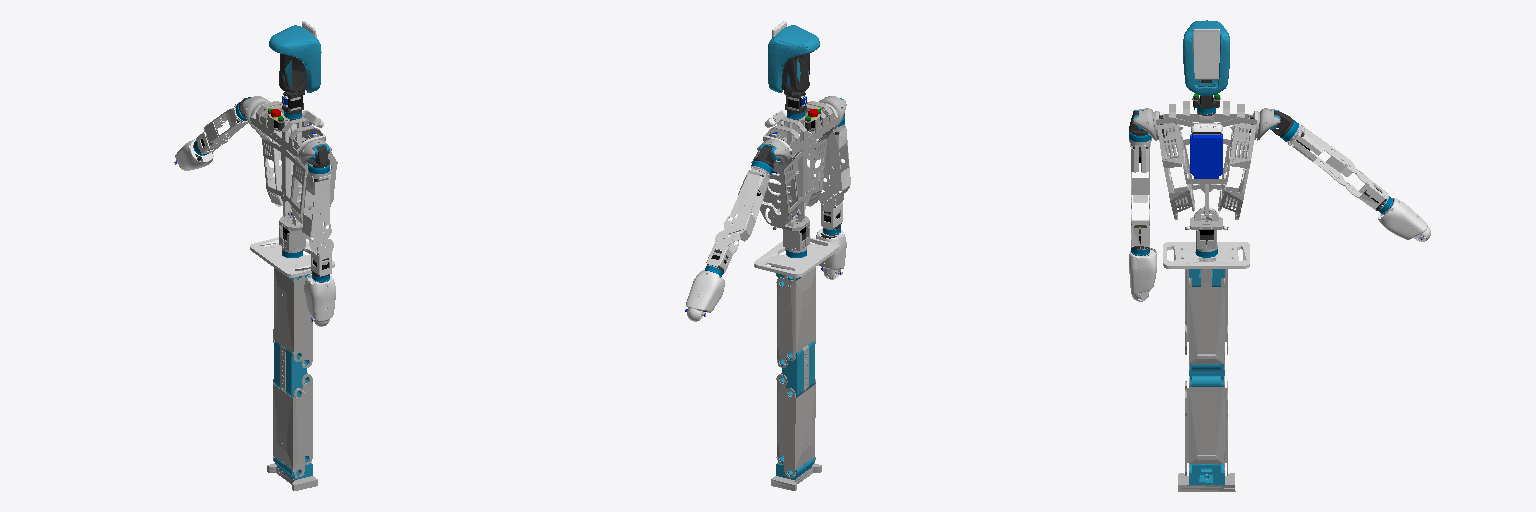
--- What the picture shows (computed from the rendered views, not written in the file) ---
Views: 3 orthographic renders of the robot side by side, from view 1: azimuth 30°, elevation 25°; view 2: azimuth 150°, elevation 25°; view 3: azimuth 270°, elevation 25°.
Robot: SEED-Noid-Mover-typeG — 55 links, 54 joints (32 revolute, 2 continuous, 20 fixed); root link base_link; default pose: joints at zero except 1 at the middle of their limits (l_shoulder_r_joint = 0.8703).
Links seen in each view (by area): view 1: body_link, head_link, leg_shank_link, leg_thigh_link, r_upperarm_link, waist_link, leg_knee_link, r_forearm_link, hip_sphere_link, r_elbow_link, l_upperarm_link, l_forearm_link (+3 smaller); view 2: body_link, head_link, leg_shank_link, leg_thigh_link, l_upperarm_link, waist_link, r_upperarm_link, l_forearm_link, leg_knee_link, hip_sphere_link, l_elbow_link, r_elbow_link (+5 smaller); view 3: body_link, head_link, leg_shank_link_dummy, leg_thigh_link_dummy, waist_link, l_upperarm_link, l_forearm_link, r_upperarm_link, hip_sphere_link, lifter_base_link, r_forearm_link, l_elbow_link (+5 smaller).
Boxes of the visible links, <box> form: body_link: <box>250,101,337,223</box>; head_link: <box>269,21,321,92</box>; leg_shank_link: <box>273,379,308,477</box>; leg_thigh_link: <box>273,268,308,361</box>; r_upperarm_link: <box>302,164,331,241</box>; waist_link: <box>250,237,334,277</box>; leg_knee_link: <box>274,341,309,397</box>; r_forearm_link: <box>304,274,335,326</box>; hip_sphere_link: <box>279,211,305,257</box>; r_elbow_link: <box>309,239,333,281</box>; l_upperarm_link: <box>204,102,248,142</box>; l_forearm_link: <box>175,139,213,170</box>; body_link: <box>751,101,838,227</box>; head_link: <box>768,21,819,92</box>; leg_shank_link: <box>780,379,815,477</box>; leg_thigh_link: <box>780,267,815,361</box>; l_upperarm_link: <box>724,161,772,241</box>; waist_link: <box>754,237,838,277</box>; r_upperarm_link: <box>823,116,850,194</box>; l_forearm_link: <box>686,270,724,321</box>; leg_knee_link: <box>780,341,814,397</box>; hip_sphere_link: <box>773,211,809,257</box>; l_elbow_link: <box>705,230,738,276</box>; r_elbow_link: <box>819,192,843,234</box>; body_link: <box>1153,94,1259,220</box>; head_link: <box>1183,20,1229,95</box>; leg_shank_link_dummy: <box>1189,376,1224,469</box>; leg_thigh_link_dummy: <box>1189,278,1224,369</box>; waist_link: <box>1163,242,1249,268</box>; l_upperarm_link: <box>1280,120,1356,185</box>; l_forearm_link: <box>1378,198,1430,241</box>; r_upperarm_link: <box>1129,132,1151,208</box>; hip_sphere_link: <box>1185,207,1228,257</box>; lifter_base_link: <box>1178,464,1234,487</box>; r_forearm_link: <box>1129,248,1156,301</box>; l_elbow_link: <box>1345,169,1392,213</box>.
Size in the robot's own frame: 0.1679 by 0.8385 by 1.42 metres.
Meshes: 34 distinct files referenced, 27 mesh visuals loaded (26 Collada DAE); not drawn: 16 (reference not matched to a file when rendering).

URDF robot description (SEED-Noid-Mover-typeG):
<?xml version="1.0" ?>
<!-- =================================================================================== -->
<!-- |    This document was autogenerated by xacro from noid.urdf.xacro                | -->
<!-- |    EDITING THIS FILE BY HAND IS NOT RECOMMENDED                                 | -->
<!-- =================================================================================== -->
<robot name="SEED-Noid-Mover-typeG" xmlns:xacro="http://ros.org/wiki/xacro">
  <!-- ============================   typeF_upper   ============================ -->
  <link name="waist_link">
    <visual>
      <origin rpy="0 0 0" xyz="0 0 0"/>
      <geometry>
        <mesh filename="package://seed_r7_description/meshes/typeG_upperbody/waist_link.dae" scale="1 1 1"/>
      </geometry>
    </visual>
    <collision>
      <origin rpy="0 -0 0" xyz="0 0 0"/>
      <geometry>
        <mesh filename="package://seed_r7_description/meshes/typeG_upperbody/waist_link.dae" scale="1 1 1"/>
      </geometry>
    </collision>
    <inertial>
      <mass value="1.257"/>
      <origin rpy="0 0 0" xyz="0 0 0.0"/>
      <inertia ixx="0.034" ixy="0" ixz="0" iyy="0.034" iyz="0" izz="0.018"/>
    </inertial>
  </link>
  <gazebo reference="waist_link">
    <mu1>0.9</mu1>
    <mu2>0.9</mu2>
  </gazebo>
  <link name="hip_sphere_link">
    <visual>
      <origin rpy="0 0 0" xyz="0 0 0"/>
      <geometry>
        <mesh filename="package://seed_r7_description/meshes/typeG_upperbody/hip_sphere_link.dae" scale="1 1 1"/>
      </geometry>
    </visual>
    <collision>
      <origin rpy="0 0 0" xyz="0 0 0"/>
      <geometry>
        <mesh filename="package://seed_r7_description/meshes/typeG_upperbody/hip_sphere_link.dae" scale="1 1 1"/>
      </geometry>
    </collision>
    <inertial>
      <mass value="1.257"/>
      <origin rpy="0 -0 0" xyz="0 0 0.042"/>
      <!-- inertia ixx="0.034" ixy="0" ixz="0" iyy="0.034" iyz="0" izz="0.018"/ -->
      <!-- just fixed for gazebo / reduce inertia-->
      <inertia ixx="0.01" ixy="0" ixz="0" iyy="0.01" iyz="0" izz="0.007"/>
    </inertial>
  </link>
  <gazebo reference="hip_sphere_link">
    <mu1>0.9</mu1>
    <mu2>0.9</mu2>
  </gazebo>
  <link name="hip_center">
    <visual>
      <origin rpy="0 0 0" xyz="0 0 0"/>
      <geometry>
        <mesh filename="package://seed_r7_description/meshes/typeG_upperbody/hip_center_link.dae" scale="1 1 1"/>
      </geometry>
    </visual>
    <collision>
      <origin rpy="0 0 0" xyz="0 0 0"/>
      <geometry>
        <mesh filename="package://seed_r7_description/meshes/typeG_upperbody/hip_center_link.dae" scale="1 1 1"/>
      </geometry>
    </collision>
    <inertial>
      <mass value="0.1"/>
      <origin rpy="0 0 0" xyz="0 0 0"/>
      <inertia ixx="0.003" ixy="0" ixz="0" iyy="0.003" iyz="0" izz="0.003"/>
    </inertial>
  </link>
  <gazebo reference="hip_center">
    <mu1>0.9</mu1>
    <mu2>0.9</mu2>
  </gazebo>
  <link name="body_link">
    <visual>
      <origin rpy="0 0 0" xyz="0 0 0"/>
      <geometry>
        <mesh filename="package://seed_r7_description/meshes/typeG_upperbody/body_link.dae" scale="1 1 1"/>
      </geometry>
    </visual>
    <collision>
      <origin rpy="0 0 0" xyz="0 0 0"/>
      <geometry>
        <mesh filename="package://seed_r7_description/meshes/typeG_upperbody/body_link.dae" scale="1 1 1"/>
      </geometry>
    </collision>
    <inertial>
      <mass value="10.551"/>
      <origin rpy="0 -0 0" xyz="0 0 0.22"/>
      <inertia ixx="0.13" ixy="0" ixz="0" iyy="0.12" iyz="0" izz="0.114"/>
    </inertial>
  </link>
  <gazebo reference="body_link">
    <mu1>0.9</mu1>
    <mu2>0.9</mu2>
  </gazebo>
  <link name="l_shoulder_link">
    <visual>
      <origin rpy="0 0 0" xyz="0 0 0"/>
      <geometry>
        <mesh filename="package://seed_r7_description/meshes/typeG_upperbody/l_shoulder_link.dae" scale="1 1 1"/>
      </geometry>
    </visual>
    <collision>
      <origin rpy="0 0 0" xyz="0 0 0"/>
      <geometry>
        <mesh filename="package://seed_r7_description/meshes/typeG_upperbody/l_shoulder_link.dae" scale="1 1 1"/>
      </geometry>
    </collision>
    <inertial>
      <mass value="0.242"/>
      <!--origin xyz="0 0.02 0" rpy="0 -0 0"/>
      <inertia ixx="0.000228" ixy="0" ixz="0" iyy="0.000148" iyz="0" izz="0.000263"/-->
      <!-- just fixed for gazebo / increase inertia-->
      <origin rpy="0 -0 0" xyz="0 0.02 0.015"/>
      <inertia ixx="0.00133" ixy="0" ixz="0" iyy="0.001" iyz="0" izz="0.00133"/>
    </inertial>
  </link>
  <gazebo reference="l_shoulder_link">
    <mu1>0.9</mu1>
    <mu2>0.9</mu2>
  </gazebo>
  <link name="l_shoulder_center">
    <visual>
      <origin rpy="0 -0 0" xyz="0 0 0"/>
      <geometry>
        <mesh filename="package://seed_r7_description/meshes/typeG_upperbody/l_shoulder_center_link.dae" scale="1 1 1"/>
      </geometry>
    </visual>
    <collision>
      <origin rpy="0 -0 0" xyz="0 0 0"/>
      <geometry>
        <mesh filename="package://seed_r7_description/meshes/typeG_upperbody/l_shoulder_center_link.dae" scale="1 1 1"/>
      </geometry>
    </collision>
    <inertial>
      <mass value="0.744"/>
      <!--origin xyz="0 0.01 0" rpy="0 -0 0"/-->
      <origin rpy="0 -0 0" xyz="0 -0.01 -0.06"/>
      <inertia ixx="0.000841" ixy="0" ixz="0" iyy="0.000835" iyz="0" izz="0.000304"/>
    </inertial>
  </link>
  <gazebo reference="l_shoulder_center">
    <mu1>0.9</mu1>
    <mu2>0.9</mu2>
  </gazebo>
  <link name="l_upperarm_link">
    <visual>
      <origin rpy="0 -0 0" xyz="0 0 0"/>
      <geometry>
        <mesh filename="package://seed_r7_description/meshes/typeG_upperbody/l_upperarm_link.dae" scale="1 1 1"/>
      </geometry>
    </visual>
    <collision>
      <origin rpy="0 -0 0" xyz="0 0 0"/>
      <geometry>
        <mesh filename="package://seed_r7_description/meshes/typeG_upperbody/l_upperarm_link.dae" scale="1 1 1"/>
      </geometry>
    </collision>
    <inertial>
      <mass value="0.574"/>
      <!--origin xyz="0.005 0 -0.0654" rpy="0 -0 0"/>
      <inertia ixx="0.00114" ixy="0" ixz="0" iyy="0.00117" iyz="0" izz="0.000269"/-->
      <!-- fix for gazebo -->
      <origin rpy="0 -0 0" xyz="0.005 0 -0.0654"/>
      <inertia ixx="0.00214" ixy="0" ixz="0" iyy="0.00217" iyz="0" izz="0.003"/>
    </inertial>
  </link>
  <gazebo reference="l_upperarm_link">
    <mu1>0.9</mu1>
    <mu2>0.9</mu2>
  </gazebo>
  <link name="l_elbow_link">
    <visual>
      <origin rpy="0 -0 0" xyz="0 0 0"/>
      <geometry>
        <mesh filename="package://seed_r7_description/meshes/typeG_upperbody/l_elbow_link.dae" scale="1 1 1"/>
      </geometry>
    </visual>
    <collision>
      <origin rpy="0 -0 0" xyz="0 0 0"/>
      <geometry>
        <mesh filename="package://seed_r7_description/meshes/typeG_upperbody/l_elbow_link.dae" scale="1 1 1"/>
      </geometry>
    </collision>
    <inertial>
      <mass value="0.711"/>
      <!--origin xyz="0.0047 0 -0.0546" rpy="0 -0 0"/>
      <inertia ixx="0.00178" ixy="0" ixz="0" iyy="0.00179" iyz="0" izz="0.000273"/-->
      <!-- fix for gazebo -->
      <origin rpy="0 -0 0" xyz="-0.03 0 -0.0546"/>
      <inertia ixx="0.00178" ixy="0" ixz="0" iyy="0.00179" iyz="0" izz="0.0035"/>
    </inertial>
  </link>
  <gazebo reference="l_elbow_link">
    <mu1>0.9</mu1>
    <mu2>0.9</mu2>
  </gazebo>
  <link name="l_forearm_link">
    <visual>
      <origin rpy="0 0 0" xyz="0 0 0"/>
      <geometry>
        <mesh filename="package://seed_r7_description/meshes/typeG_upperbody/l_forearm_link.dae" scale="1 1 1"/>
      </geometry>
    </visual>
    <collision>
      <origin rpy="0 0 0" xyz="0 0 0"/>
      <geometry>
        <mesh filename="package://seed_r7_description/meshes/typeG_upperbody/l_forearm_link.dae" scale="1 1 1"/>
      </geometry>
    </collision>
    <inertial>
      <mass value="0.132"/>
      <origin rpy="0 -0 0" xyz="0.006 0 -0.0738"/>
      <!--inertia ixx="0.00276" ixy="0" ixz="0" iyy="0.00286" iyz="0" izz="0.004"/-->
      <inertia ixx="0.0007" ixy="0" ixz="0" iyy="0.0007" iyz="0" izz="0.0004"/>
    </inertial>
  </link>
  <gazebo reference="l_forearm_link">
    <mu1>0.9</mu1>
    <mu2>0.9</mu2>
  </gazebo>
  <link name="l_wrist_center">
    <visual>
      <origin rpy="0 0 0" xyz="0 0 0"/>
      <geometry>
        <mesh filename="package://seed_r7_description/meshes/typeG_upperbody/l_wrist_center_link.dae" scale="1 1 1"/>
      </geometry>
    </visual>
    <collision>
      <origin rpy="0 0 0" xyz="0 0 0"/>
      <geometry>
        <mesh filename="package://seed_r7_description/meshes/typeG_upperbody/l_wrist_center_link.dae" scale="1 1 1"/>
      </geometry>
    </collision>
    <inertial>
      <mass value="0.05"/>
      <origin rpy="0 -0 0" xyz="0 0 0"/>
      <inertia ixx="0.0001" ixy="0" ixz="0" iyy="0.0001" iyz="0" izz="0.0001"/>
    </inertial>
  </link>
  <gazebo reference="l_wrist_center">
    <mu1>0.9</mu1>
    <mu2>0.9</mu2>
  </gazebo>
  <link name="neck_link">
    <visual>
      <origin rpy="0 -0 0" xyz="0 0 0"/>
      <geometry>
        <mesh filename="package://seed_r7_description/meshes/typeG_upperbody/neck_link.dae" scale="1 1 1"/>
      </geometry>
    </visual>
    <collision>
      <origin rpy="0 -0 0" xyz="0 0 0"/>
      <geometry>
        <mesh filename="package://seed_r7_description/meshes/typeG_upperbody/neck_link.dae" scale="1 1 1"/>
      </geometry>
    </collision>
    <inertial>
      <mass value="0.341"/>
      <origin rpy="0 -0 0" xyz="0 0 0.0595"/>
      <!--inertia ixx="1.64186e-35" ixy="0" ixz="0" iyy="1.64186e-35" iyz="0" izz="0"/-->
      <inertia ixx="0.001" ixy="0" ixz="0" iyy="0.001" iyz="0" izz="0.002"/>
    </inertial>
  </link>
  <gazebo reference="neck_link">
    <mu1>0.9</mu1>
    <mu2>0.9</mu2>
  </gazebo>
  <link name="head_base_link">
    <visual>
      <origin rpy="0 -0 0" xyz="0 0 0"/>
      <geometry>
        <mesh filename="package://seed_r7_description/meshes/typeG_upperbody/head_base_link.dae" scale="1 1 1"/>
      </geometry>
    </visual>
    <collision>
      <origin rpy="0 -0 0" xyz="0 0 0"/>
      <geometry>
        <mesh filename="package://seed_r7_description/meshes/typeG_upperbody/head_base_link.dae" scale="1 1 1"/>
      </geometry>
    </collision>
    <inertial>
      <mass value="0.1"/>
      <origin rpy="0 -0 0" xyz="0 0 0"/>
      <inertia ixx="0.0005" ixy="0" ixz="0" iyy="0.0005" iyz="0" izz="0.0005"/>
    </inertial>
  </link>
  <gazebo reference="head_base_link">
    <mu1>0.9</mu1>
    <mu2>0.9</mu2>
  </gazebo>
  <link name="head_link">
    <visual>
      <origin rpy="0 -0 0" xyz="0 0 0"/>
      <geometry>
        <mesh filename="package://seed_r7_description/meshes/typeG_upperbody/head_link.dae" scale="1 1 1"/>
      </geometry>
    </visual>
    <collision>
      <origin rpy="0 -0 0" xyz="0 0 0"/>
      <geometry>
        <mesh filename="package://seed_r7_description/meshes/typeG_upperbody/head_link.dae" scale="1 1 1"/>
      </geometry>
    </collision>
    <inertial>
      <mass value="0.974"/>
      <origin rpy="0 -0 0" xyz="0.01 0 0.070"/>
      <inertia ixx="0.005" ixy="0" ixz="0" iyy="0.005" iyz="0" izz="0.005"/>
    </inertial>
  </link>
  <gazebo reference="head_link">
    <mu1>0.9</mu1>
    <mu2>0.9</mu2>
  </gazebo>
  <link name="r_shoulder_link">
    <visual>
      <origin rpy="0 0 0" xyz="0 0 0"/>
      <geometry>
        <mesh filename="package://seed_r7_description/meshes/typeG_upperbody/r_shoulder_link.dae" scale="1 1 1"/>
      </geometry>
    </visual>
    <collision>
      <origin rpy="0 0 0" xyz="0 0 0"/>
      <geometry>
        <mesh filename="package://seed_r7_description/meshes/typeG_upperbody/r_shoulder_link.dae" scale="1 1 1"/>
      </geometry>
    </collision>
    <inertial>
      <mass value="0.242"/>
      <!--origin xyz="0 -0.02 0" rpy="0 -0 0"/>
      <inertia ixx="0.000228" ixy="0" ixz="0" iyy="0.000148" iyz="0" izz="0.000263"/-->
      <origin rpy="0 -0 0" xyz="0 -0.02 0.015"/>
      <inertia ixx="0.00133" ixy="0" ixz="0" iyy="0.001" iyz="0" izz="0.00133"/>
    </inertial>
  </link>
  <gazebo reference="r_shoulder_link">
    <mu1>0.9</mu1>
    <mu2>0.9</mu2>
  </gazebo>
  <link name="r_shoulder_center">
    <visual>
      <origin rpy="0 -0 0" xyz="0 0 0"/>
      <geometry>
        <mesh filename="package://seed_r7_description/meshes/typeG_upperbody/r_shoulder_center_link.dae" scale="1 1 1"/>
      </geometry>
    </visual>
    <collision>
      <origin rpy="0 -0 0" xyz="0 0 0"/>
      <geometry>
        <mesh filename="package://seed_r7_description/meshes/typeG_upperbody/r_shoulder_center_link.dae" scale="1 1 1"/>
      </geometry>
    </collision>
    <inertial>
      <mass value="0.744"/>
      <!--origin xyz="0 -0.01 0" rpy="0 -0 0"/-->
      <origin rpy="0 -0 0" xyz="0 0.01 -0.06"/>
      <inertia ixx="0.000841" ixy="0" ixz="0" iyy="0.000835" iyz="0" izz="0.000305"/>
    </inertial>
  </link>
  <gazebo reference="r_shoulder_center">
    <mu1>0.9</mu1>
    <mu2>0.9</mu2>
  </gazebo>
  <link name="r_upperarm_link">
    <visual>
      <origin rpy="0 -0 0" xyz="0 0 0"/>
      <geometry>
        <mesh filename="package://seed_r7_description/meshes/typeG_upperbody/r_upperarm_link.dae" scale="1 1 1"/>
      </geometry>
    </visual>
    <collision>
      <origin rpy="0 -0 0" xyz="0 0 0"/>
      <geometry>
        <mesh filename="package://seed_r7_description/meshes/typeG_upperbody/r_upperarm_link.dae" scale="1 1 1"/>
      </geometry>
    </collision>
    <inertial>
      <mass value="0.574"/>
      <!--origin xyz="0.005 0 -0.0654" rpy="0 -0 0"/>
      <inertia ixx="0.00114" ixy="0" ixz="0" iyy="0.00117" iyz="0" izz="0.000269"/-->
      <!-- fix for gazebo -->
      <origin rpy="0 -0 0" xyz="0.005 0 -0.0654"/>
      <inertia ixx="0.00214" ixy="0" ixz="0" iyy="0.00217" iyz="0" izz="0.003"/>
    </inertial>
  </link>
  <gazebo reference="r_upperarm_link">
    <mu1>0.9</mu1>
    <mu2>0.9</mu2>
  </gazebo>
  <link name="r_elbow_link">
    <visual>
      <origin rpy="0 -0 0" xyz="0 0 0"/>
      <geometry>
        <mesh filename="package://seed_r7_description/meshes/typeG_upperbody/r_elbow_link.dae" scale="1 1 1"/>
      </geometry>
    </visual>
    <collision>
      <origin rpy="0 -0 0" xyz="0 0 0"/>
      <geometry>
        <mesh filename="package://seed_r7_description/meshes/typeG_upperbody/r_elbow_link.dae" scale="1 1 1"/>
      </geometry>
    </collision>
    <inertial>
      <mass value="0.711"/>
      <!--origin xyz="0.0047 0 -0.0546" rpy="0 -0 0"/>
      <inertia ixx="0.00178" ixy="0" ixz="0" iyy="0.00179" iyz="0" izz="0.000273"/-->
      <!-- fix for gazebo -->
      <origin rpy="0 -0 0" xyz="-0.03 0 -0.0546"/>
      <inertia ixx="0.00178" ixy="0" ixz="0" iyy="0.00179" iyz="0" izz="0.0035"/>
    </inertial>
  </link>
  <gazebo reference="r_elbow_link">
    <mu1>0.9</mu1>
    <mu2>0.9</mu2>
  </gazebo>
  <link name="r_forearm_link">
    <visual>
      <origin rpy="0 0 0" xyz="0 0 0"/>
      <geometry>
        <mesh filename="package://seed_r7_description/meshes/typeG_upperbody/r_forearm_link.dae" scale="1 1 1"/>
      </geometry>
    </visual>
    <collision>
      <origin rpy="0 0 0" xyz="0 0 0"/>
      <geometry>
        <mesh filename="package://seed_r7_description/meshes/typeG_upperbody/r_forearm_link.dae" scale="1 1 1"/>
      </geometry>
    </collision>
    <inertial>
      <mass value="0.132"/>
      <origin rpy="0 -0 0" xyz="0.006 0 -0.0738"/>
      <!--inertia ixx="0.00276" ixy="0" ixz="0" iyy="0.00286" iyz="0" izz="0.004"/-->
      <inertia ixx="0.0007" ixy="0" ixz="0" iyy="0.0007" iyz="0" izz="0.0004"/>
    </inertial>
  </link>
  <gazebo reference="r_forearm_link">
    <mu1>0.9</mu1>
    <mu2>0.9</mu2>
  </gazebo>
  <link name="r_wrist_center">
    <visual>
      <origin rpy="0 0 0" xyz="0 0 0"/>
      <geometry>
        <mesh filename="package://seed_r7_description/meshes/typeG_upperbody/r_wrist_center_link.dae" scale="1 1 1"/>
      </geometry>
    </visual>
    <collision>
      <origin rpy="0 0 0" xyz="0 0 0"/>
      <geometry>
        <mesh filename="package://seed_r7_description/meshes/typeG_upperbody/r_wrist_center_link.dae" scale="1 1 1"/>
      </geometry>
    </collision>
    <inertial>
      <mass value="0.05"/>
      <origin rpy="0 -0 0" xyz="0 0 0"/>
      <inertia ixx="0.0001" ixy="0" ixz="0" iyy="0.0001" iyz="0" izz="0.0001"/>
    </inertial>
  </link>
  <gazebo reference="r_wrist_center">
    <mu1>0.9</mu1>
    <mu2>0.9</mu2>
  </gazebo>
  <joint name="waist_y_joint" type="revolute">
    <parent link="waist_link"/>
    <child link="hip_sphere_link"/>
    <origin rpy="0 -0 0 " xyz="0 0 0.005"/>
    <axis xyz="0 0 1"/>
    <!-- from -120 to 120 degrees-->
    <limit effort="500" lower="-2.09" upper="2.09" velocity="0.6"/>
    <dynamics damping="0.2" friction="0"/>
  </joint>
  <transmission name="waist_y_joint_trans">
    <type>transmission_interface/SimpleTransmission</type>
    <joint name="waist_y_joint">
      <!-- dupricated in kinetic -->
      <!--hardwareInterface>hardware_interface/EffortJointInterface</hardwareInterface-->
      <!--hardwareInterface>EffortJointInterface</hardwareInterface-->
      <hardwareInterface>VelocityJointInterface</hardwareInterface>
    </joint>
    <actuator name="waist_y_joint_motor">
      <!-- dupricated in kinetic -->
      <!--hardwareInterface>hardware_interface/EffortJointInterface</hardwareInterface-->
      <!--hardwareInterface>EffortJointInterface</hardwareInterface-->
      <hardwareInterface>VelocityJointInterface</hardwareInterface>
      <mechanicalReduction>1</mechanicalReduction>
    </actuator>
  </transmission>
  <gazebo reference="waist_y_joint">
    <implicitSpringDamper>0</implicitSpringDamper>
  </gazebo>
  <joint name="waist_p_joint" type="revolute">
    <parent link="hip_sphere_link"/>
    <child link="hip_center"/>
    <origin rpy="0 -0 0 " xyz="0 0 0.132"/>
    <axis xyz="0 1 0"/>
    <!-- from -10 to 46 degrees-->
    <limit effort="2000" lower="-0.17" upper="0.8" velocity="0.5"/>
    <dynamics damping="0.2" friction="0"/>
  </joint>
  <transmission name="waist_p_joint_trans">
    <type>transmission_interface/SimpleTransmission</type>
    <joint name="waist_p_joint">
      <!-- dupricated in kinetic -->
      <!--hardwareInterface>hardware_interface/EffortJointInterface</hardwareInterface-->
      <!--hardwareInterface>EffortJointInterface</hardwareInterface-->
      <hardwareInterface>VelocityJointInterface</hardwareInterface>
    </joint>
    <actuator name="waist_p_joint_motor">
      <!-- dupricated in kinetic -->
      <!--hardwareInterface>hardware_interface/EffortJointInterface</hardwareInterface-->
      <!--hardwareInterface>EffortJointInterface</hardwareInterface-->
      <hardwareInterface>VelocityJointInterface</hardwareInterface>
      <mechanicalReduction>1</mechanicalReduction>
    </actuator>
  </transmission>
  <gazebo reference="waist_p_joint">
    <implicitSpringDamper>0</implicitSpringDamper>
  </gazebo>
  <joint name="waist_r_joint" type="revolute">
    <parent link="hip_center"/>
    <child link="body_link"/>
    <origin rpy="0 -0 0 " xyz="0 0 0"/>
    <axis xyz="1 0 0"/>
    <!-- from -7 to 7 degrees-->
    <limit effort="2000" lower="-0.12" upper="0.12" velocity="0.4"/>
    <dynamics damping="0.2" friction="0"/>
  </joint>
  <transmission name="waist_r_joint_trans">
    <type>transmission_interface/SimpleTransmission</type>
    <joint name="waist_r_joint">
      <!-- dupricated in kinetic -->
      <!--hardwareInterface>hardware_interface/EffortJointInterface</hardwareInterface-->
      <!--hardwareInterface>EffortJointInterface</hardwareInterface-->
      <hardwareInterface>VelocityJointInterface</hardwareInterface>
    </joint>
    <actuator name="waist_r_joint_motor">
      <!-- dupricated in kinetic -->
      <!--hardwareInterface>hardware_interface/EffortJointInterface</hardwareInterface-->
      <!--hardwareInterface>EffortJointInterface</hardwareInterface-->
      <hardwareInterface>VelocityJointInterface</hardwareInterface>
      <mechanicalReduction>1</mechanicalReduction>
    </actuator>
  </transmission>
  <gazebo reference="waist_r_joint">
    <implicitSpringDamper>0</implicitSpringDamper>
  </gazebo>
  <joint name="l_shoulder_p_joint" type="revolute">
    <parent link="body_link"/>
    <child link="l_shoulder_link"/>
    <origin rpy="0 0 0 " xyz="-0.018 0.134147 0.251907"/>
    <axis xyz="0 0.984808 -0.173648"/>
    <!-- from -82 to 18 degrees-->
    <!-- <limit lower="-1.535" upper="0.261" effort="200" velocity="0.4" /> -->
    <limit effort="200" lower="-1.43" upper="0.31" velocity="0.4"/>
     --&gt;
    
    <dynamics damping="0.2" friction="0"/>
  </joint>
  <transmission name="l_shoulder_p_joint_trans">
    <type>transmission_interface/SimpleTransmission</type>
    <joint name="l_shoulder_p_joint">
      <!-- dupricated in kinetic -->
      <!--hardwareInterface>hardware_interface/EffortJointInterface</hardwareInterface-->
      <!--hardwareInterface>EffortJointInterface</hardwareInterface-->
      <hardwareInterface>VelocityJointInterface</hardwareInterface>
    </joint>
    <actuator name="l_shoulder_p_joint_motor">
      <!-- dupricated in kinetic -->
      <!--hardwareInterface>hardware_interface/EffortJointInterface</hardwareInterface-->
      <!--hardwareInterface>EffortJointInterface</hardwareInterface-->
      <hardwareInterface>VelocityJointInterface</hardwareInterface>
      <mechanicalReduction>1</mechanicalReduction>
    </actuator>
  </transmission>
  <gazebo reference="l_shoulder_p_joint">
    <implicitSpringDamper>0</implicitSpringDamper>
  </gazebo>
  <joint name="l_shoulder_r_joint" type="revolute">
    <parent link="l_shoulder_link"/>
    <child link="l_shoulder_center"/>
    <origin rpy="0 0 0 " xyz="0 0.059778 0.028046"/>
    <axis xyz="1 0 0"/>
    <!-- from -10 to 90 degrees-->
    <limit effort="100" lower="0.17" upper="1.5707" velocity="0.6"/>
    <dynamics damping="0.2" friction="0"/>
  </joint>
  <transmission name="l_shoulder_r_joint_trans">
    <type>transmission_interface/SimpleTransmission</type>
    <joint name="l_shoulder_r_joint">
      <!-- dupricated in kinetic -->
      <!--hardwareInterface>hardware_interface/EffortJointInterface</hardwareInterface-->
      <!--hardwareInterface>EffortJointInterface</hardwareInterface-->
      <hardwareInterface>VelocityJointInterface</hardwareInterface>
    </joint>
    <actuator name="l_shoulder_r_joint_motor">
      <!-- dupricated in kinetic -->
      <!--hardwareInterface>hardware_interface/EffortJointInterface</hardwareInterface-->
      <!--hardwareInterface>EffortJointInterface</hardwareInterface-->
      <hardwareInterface>VelocityJointInterface</hardwareInterface>
      <mechanicalReduction>1</mechanicalReduction>
    </actuator>
  </transmission>
  <gazebo reference="l_shoulder_r_joint">
    <implicitSpringDamper>0</implicitSpringDamper>
  </gazebo>
  <joint name="l_shoulder_y_joint" type="revolute">
    <parent link="l_shoulder_center"/>
    <child link="l_upperarm_link"/>
    <origin rpy="0 -0 0 " xyz="0 -0.01 -0.0455"/>
    <axis xyz="0 0 1"/>
    <!-- from -180 to 180 degrees-->
    <limit effort="100" lower="-1.5707" upper="1.5707" velocity="1.2"/>
    <dynamics damping="0.2" friction="0"/>
  </joint>
  <transmission name="l_shoulder_y_joint_trans">
    <type>transmission_interface/SimpleTransmission</type>
    <joint name="l_shoulder_y_joint">
      <!-- dupricated in kinetic -->
      <!--hardwareInterface>hardware_interface/EffortJointInterface</hardwareInterface-->
      <!--hardwareInterface>EffortJointInterface</hardwareInterface-->
      <hardwareInterface>VelocityJointInterface</hardwareInterface>
    </joint>
    <actuator name="l_shoulder_y_joint_motor">
      <!-- dupricated in kinetic -->
      <!--hardwareInterface>hardware_interface/EffortJointInterface</hardwareInterface-->
      <!--hardwareInterface>EffortJointInterface</hardwareInterface-->
      <hardwareInterface>VelocityJointInterface</hardwareInterface>
      <mechanicalReduction>1</mechanicalReduction>
    </actuator>
  </transmission>
  <gazebo reference="l_shoulder_y_joint">
    <implicitSpringDamper>0</implicitSpringDamper>
  </gazebo>
  <joint name="l_elbow_joint" type="revolute">
    <parent link="l_upperarm_link"/>
    <child link="l_elbow_link"/>
    <origin rpy="0 -0 0 " xyz="0.028031 0 -0.229459"/>
    <axis xyz="0 1 0"/>
    <!-- from -180 to 0 degrees-->
    <limit effort="100" lower="-3.14" upper="0" velocity="1.2"/>
    <dynamics damping="0.2" friction="0"/>
  </joint>
  <transmission name="l_elbow_joint_trans">
    <type>transmission_interface/SimpleTransmission</type>
    <joint name="l_elbow_joint">
      <!-- dupricated in kinetic -->
      <!--hardwareInterface>hardware_interface/EffortJointInterface</hardwareInterface-->
      <!--hardwareInterface>EffortJointInterface</hardwareInterface-->
      <hardwareInterface>VelocityJointInterface</hardwareInterface>
    </joint>
    <actuator name="l_elbow_joint_motor">
      <!-- dupricated in kinetic -->
      <!--hardwareInterface>hardware_interface/EffortJointInterface</hardwareInterface-->
      <!--hardwareInterface>EffortJointInterface</hardwareInterface-->
      <hardwareInterface>VelocityJointInterface</hardwareInterface>
      <mechanicalReduction>1</mechanicalReduction>
    </actuator>
  </transmission>
  <gazebo reference="l_elbow_joint">
    <implicitSpringDamper>0</implicitSpringDamper>
  </gazebo>
  <joint name="l_wrist_y_joint" type="revolute">
    <parent link="l_elbow_link"/>
    <child link="l_forearm_link"/>
    <origin rpy="0 -0 0 " xyz="-0.020959 0 -0.137531"/>
    <axis xyz="0 0 1"/>
    <!-- from -180 to 180 degrees-->
    <limit effort="100" lower="-1.5707" upper="1.5707" velocity="1.3"/>
    <dynamics damping="0.2" friction="0"/>
  </joint>
  <transmission name="l_wrist_y_joint_trans">
    <type>transmission_interface/SimpleTransmission</type>
    <joint name="l_wrist_y_joint">
      <!-- dupricated in kinetic -->
      <!--hardwareInterface>hardware_interface/EffortJointInterface</hardwareInterface-->
      <!--hardwareInterface>EffortJointInterface</hardwareInterface-->
      <hardwareInterface>VelocityJointInterface</hardwareInterface>
    </joint>
    <actuator name="l_wrist_y_joint_motor">
      <!-- dupricated in kinetic -->
      <!--hardwareInterface>hardware_interface/EffortJointInterface</hardwareInterface-->
      <!--hardwareInterface>EffortJointInterface</hardwareInterface-->
      <hardwareInterface>VelocityJointInterface</hardwareInterface>
      <mechanicalReduction>1</mechanicalReduction>
    </actuator>
  </transmission>
  <gazebo reference="l_wrist_y_joint">
    <implicitSpringDamper>0</implicitSpringDamper>
  </gazebo>
  <joint name="l_wrist_p_joint" type="revolute">
    <parent link="l_forearm_link"/>
    <child link="l_wrist_center"/>
    <origin rpy="0 -0 0 " xyz="0 0 -0.124"/>
    <axis xyz="0 1 0"/>
    <!-- from -8 to 8 degrees-->
    <limit effort="100" lower="-0.14" upper="0.14" velocity="0.9"/>
    <dynamics damping="0.2" friction="0"/>
  </joint>
  <transmission name="l_wrist_p_joint_trans">
    <type>transmission_interface/SimpleTransmission</type>
    <joint name="l_wrist_p_joint">
      <!-- dupricated in kinetic -->
      <!--hardwareInterface>hardware_interface/EffortJointInterface</hardwareInterface-->
      <!--hardwareInterface>EffortJointInterface</hardwareInterface-->
      <hardwareInterface>VelocityJointInterface</hardwareInterface>
    </joint>
    <actuator name="l_wrist_p_joint_motor">
      <!-- dupricated in kinetic -->
      <!--hardwareInterface>hardware_interface/EffortJointInterface</hardwareInterface-->
      <!--hardwareInterface>EffortJointInterface</hardwareInterface-->
      <hardwareInterface>VelocityJointInterface</hardwareInterface>
      <mechanicalReduction>1</mechanicalReduction>
    </actuator>
  </transmission>
  <gazebo reference="l_wrist_p_joint">
    <implicitSpringDamper>0</implicitSpringDamper>
  </gazebo>
  <joint name="l_wrist_r_joint" type="revolute">
    <parent link="l_wrist_center"/>
    <child link="l_hand_link"/>
    <origin rpy="0 0 0 " xyz="0 0 0"/>
    <axis xyz="1 0 0"/>
    <!-- from -90 to 20 degrees-->
    <limit effort="100" lower="-1.57" upper="0.35" velocity="2.1"/>
    <dynamics damping="0.2" friction="0"/>
  </joint>
  <transmission name="l_wrist_r_joint_trans">
    <type>transmission_interface/SimpleTransmission</type>
    <joint name="l_wrist_r_joint">
      <!-- dupricated in kinetic -->
      <!--hardwareInterface>hardware_interface/EffortJointInterface</hardwareInterface-->
      <!--hardwareInterface>EffortJointInterface</hardwareInterface-->
      <hardwareInterface>VelocityJointInterface</hardwareInterface>
    </joint>
    <actuator name="l_wrist_r_joint_motor">
      <!-- dupricated in kinetic -->
      <!--hardwareInterface>hardware_interface/EffortJointInterface</hardwareInterface-->
      <!--hardwareInterface>EffortJointInterface</hardwareInterface-->
      <hardwareInterface>VelocityJointInterface</hardwareInterface>
      <mechanicalReduction>1</mechanicalReduction>
    </actuator>
  </transmission>
  <gazebo reference="l_wrist_r_joint">
    <implicitSpringDamper>0</implicitSpringDamper>
  </gazebo>
  <joint name="neck_y_joint" type="revolute">
    <parent link="body_link"/>
    <child link="neck_link"/>
    <origin rpy="0 -0 0 " xyz="0.002 0 0.302"/>
    <axis xyz="0 0 1"/>
    <!-- from -120 to 120 degrees-->
    <limit effort="100" lower="-2.09" upper="2.09" velocity="1.6"/>
    <dynamics damping="0.2" friction="0"/>
  </joint>
  <transmission name="neck_y_joint_trans">
    <type>transmission_interface/SimpleTransmission</type>
    <joint name="neck_y_joint">
      <!-- dupricated in kinetic -->
      <!--hardwareInterface>hardware_interface/EffortJointInterface</hardwareInterface-->
      <!--hardwareInterface>EffortJointInterface</hardwareInterface-->
      <hardwareInterface>VelocityJointInterface</hardwareInterface>
    </joint>
    <actuator name="neck_y_joint_motor">
      <!-- dupricated in kinetic -->
      <!--hardwareInterface>hardware_interface/EffortJointInterface</hardwareInterface-->
      <!--hardwareInterface>EffortJointInterface</hardwareInterface-->
      <hardwareInterface>VelocityJointInterface</hardwareInterface>
      <mechanicalReduction>1</mechanicalReduction>
    </actuator>
  </transmission>
  <gazebo reference="neck_y_joint">
    <implicitSpringDamper>0</implicitSpringDamper>
  </gazebo>
  <joint name="neck_p_joint" type="revolute">
    <parent link="neck_link"/>
    <child link="head_base_link"/>
    <origin rpy="0 -0 0 " xyz="0.015 0 0.105"/>
    <axis xyz="0 1 0"/>
    <!-- from -50 to 40 degrees-->
    <limit effort="100" lower="-0.87" upper="0.7" velocity="2.1"/>
    <dynamics damping="0.2" friction="0"/>
  </joint>
  <transmission name="neck_p_joint_trans">
    <type>transmission_interface/SimpleTransmission</type>
    <joint name="neck_p_joint">
      <!-- dupricated in kinetic -->
      <!--hardwareInterface>hardware_interface/EffortJointInterface</hardwareInterface-->
      <!--hardwareInterface>EffortJointInterface</hardwareInterface-->
      <hardwareInterface>VelocityJointInterface</hardwareInterface>
    </joint>
    <actuator name="neck_p_joint_motor">
      <!-- dupricated in kinetic -->
      <!--hardwareInterface>hardware_interface/EffortJointInterface</hardwareInterface-->
      <!--hardwareInterface>EffortJointInterface</hardwareInterface-->
      <hardwareInterface>VelocityJointInterface</hardwareInterface>
      <mechanicalReduction>1</mechanicalReduction>
    </actuator>
  </transmission>
  <gazebo reference="neck_p_joint">
    <implicitSpringDamper>0</implicitSpringDamper>
  </gazebo>
  <joint name="neck_r_joint" type="revolute">
    <parent link="head_base_link"/>
    <child link="head_link"/>
    <origin rpy="0 -0 0 " xyz="0 0 0"/>
    <axis xyz="1 0 0"/>
    <!-- from -20 to 20 degrees-->
    <limit effort="100" lower="-0.35" upper="0.35" velocity="0.9"/>
    <dynamics damping="0.2" friction="0"/>
  </joint>
  <transmission name="neck_r_joint_trans">
    <type>transmission_interface/SimpleTransmission</type>
    <joint name="neck_r_joint">
      <!-- dupricated in kinetic -->
      <!--hardwareInterface>hardware_interface/EffortJointInterface</hardwareInterface-->
      <!--hardwareInterface>EffortJointInterface</hardwareInterface-->
      <hardwareInterface>VelocityJointInterface</hardwareInterface>
    </joint>
    <actuator name="neck_r_joint_motor">
      <!-- dupricated in kinetic -->
      <!--hardwareInterface>hardware_interface/EffortJointInterface</hardwareInterface-->
      <!--hardwareInterface>EffortJointInterface</hardwareInterface-->
      <hardwareInterface>VelocityJointInterface</hardwareInterface>
      <mechanicalReduction>1</mechanicalReduction>
    </actuator>
  </transmission>
  <gazebo reference="neck_r_joint">
    <implicitSpringDamper>0</implicitSpringDamper>
  </gazebo>
  <joint name="r_shoulder_p_joint" type="revolute">
    <parent link="body_link"/>
    <child link="r_shoulder_link"/>
    <origin rpy="0 -0 0 " xyz="-0.018 -0.134147 0.251907"/>
    <axis xyz="0 0.984808 0.173648"/>
    <!-- from -82 to 18 degrees-->
    <limit effort="200" lower="-1.43" upper="0.31" velocity="0.4"/>
     --&gt;
    
    <dynamics damping="0.2" friction="0"/>
  </joint>
  <transmission name="r_shoulder_p_joint_trans">
    <type>transmission_interface/SimpleTransmission</type>
    <joint name="r_shoulder_p_joint">
      <!-- dupricated in kinetic -->
      <!--hardwareInterface>hardware_interface/EffortJointInterface</hardwareInterface-->
      <!--hardwareInterface>EffortJointInterface</hardwareInterface-->
      <hardwareInterface>VelocityJointInterface</hardwareInterface>
    </joint>
    <actuator name="r_shoulder_p_joint_motor">
      <!-- dupricated in kinetic -->
      <!--hardwareInterface>hardware_interface/EffortJointInterface</hardwareInterface-->
      <!--hardwareInterface>EffortJointInterface</hardwareInterface-->
      <hardwareInterface>VelocityJointInterface</hardwareInterface>
      <mechanicalReduction>1</mechanicalReduction>
    </actuator>
  </transmission>
  <gazebo reference="r_shoulder_p_joint">
    <implicitSpringDamper>0</implicitSpringDamper>
  </gazebo>
  <joint name="r_shoulder_r_joint" type="revolute">
    <parent link="r_shoulder_link"/>
    <child link="r_shoulder_center"/>
    <origin rpy="0 -0 0 " xyz="0 -0.059778 0.028046"/>
    <axis xyz="1 0 0"/>
    <!-- from -90 to 10 degrees-->
    <limit effort="100" lower="-1.5707" upper="0.17" velocity="0.6"/>
    <dynamics damping="0.2" friction="0"/>
  </joint>
  <transmission name="r_shoulder_r_joint_trans">
    <type>transmission_interface/SimpleTransmission</type>
    <joint name="r_shoulder_r_joint">
      <!-- dupricated in kinetic -->
      <!--hardwareInterface>hardware_interface/EffortJointInterface</hardwareInterface-->
      <!--hardwareInterface>EffortJointInterface</hardwareInterface-->
      <hardwareInterface>VelocityJointInterface</hardwareInterface>
    </joint>
    <actuator name="r_shoulder_r_joint_motor">
      <!-- dupricated in kinetic -->
      <!--hardwareInterface>hardware_interface/EffortJointInterface</hardwareInterface-->
      <!--hardwareInterface>EffortJointInterface</hardwareInterface-->
      <hardwareInterface>VelocityJointInterface</hardwareInterface>
      <mechanicalReduction>1</mechanicalReduction>
    </actuator>
  </transmission>
  <gazebo reference="r_shoulder_r_joint">
    <implicitSpringDamper>0</implicitSpringDamper>
  </gazebo>
  <joint name="r_shoulder_y_joint" type="revolute">
    <parent link="r_shoulder_center"/>
    <child link="r_upperarm_link"/>
    <origin rpy="0 -0 0 " xyz="0 0.01 -0.0455"/>
    <axis xyz="0 0 1"/>
    <!-- from -180 to 180 degrees-->
    <limit effort="100" lower="-1.5707" upper="1.5707" velocity="1.2"/>
    <dynamics damping="0.2" friction="0"/>
  </joint>
  <transmission name="r_shoulder_y_joint_trans">
    <type>transmission_interface/SimpleTransmission</type>
    <joint name="r_shoulder_y_joint">
      <!-- dupricated in kinetic -->
      <!--hardwareInterface>hardware_interface/EffortJointInterface</hardwareInterface-->
      <!--hardwareInterface>EffortJointInterface</hardwareInterface-->
      <hardwareInterface>VelocityJointInterface</hardwareInterface>
    </joint>
    <actuator name="r_shoulder_y_joint_motor">
      <!-- dupricated in kinetic -->
      <!--hardwareInterface>hardware_interface/EffortJointInterface</hardwareInterface-->
      <!--hardwareInterface>EffortJointInterface</hardwareInterface-->
      <hardwareInterface>VelocityJointInterface</hardwareInterface>
      <mechanicalReduction>1</mechanicalReduction>
    </actuator>
  </transmission>
  <gazebo reference="r_shoulder_y_joint">
    <implicitSpringDamper>0</implicitSpringDamper>
  </gazebo>
  <joint name="r_elbow_joint" type="revolute">
    <parent link="r_upperarm_link"/>
    <child link="r_elbow_link"/>
    <origin rpy="0 -0 0 " xyz="0.028031 0 -0.229459"/>
    <axis xyz="0 1 0"/>
    <!-- from -180 to 0 degrees-->
    <limit effort="100" lower="-3.14" upper="0" velocity="1.2"/>
    <dynamics damping="0.2" friction="0"/>
  </joint>
  <transmission name="r_elbow_joint_trans">
    <type>transmission_interface/SimpleTransmission</type>
    <joint name="r_elbow_joint">
      <!-- dupricated in kinetic -->
      <!--hardwareInterface>hardware_interface/EffortJointInterface</hardwareInterface-->
      <!--hardwareInterface>EffortJointInterface</hardwareInterface-->
      <hardwareInterface>VelocityJointInterface</hardwareInterface>
    </joint>
    <actuator name="r_elbow_joint_motor">
      <!-- dupricated in kinetic -->
      <!--hardwareInterface>hardware_interface/EffortJointInterface</hardwareInterface-->
      <!--hardwareInterface>EffortJointInterface</hardwareInterface-->
      <hardwareInterface>VelocityJointInterface</hardwareInterface>
      <mechanicalReduction>1</mechanicalReduction>
    </actuator>
  </transmission>
  <gazebo reference="r_elbow_joint">
    <implicitSpringDamper>0</implicitSpringDamper>
  </gazebo>
  <joint name="r_wrist_y_joint" type="revolute">
    <parent link="r_elbow_link"/>
    <child link="r_forearm_link"/>
    <origin rpy="0 -0 0 " xyz="-0.020959 0 -0.137531"/>
    <axis xyz="0 0 1"/>
    <!-- from -180 to 180 degrees-->
    <limit effort="100" lower="-1.5707" upper="1.5707" velocity="1.3"/>
    <dynamics damping="0.2" friction="0"/>
  </joint>
  <transmission name="r_wrist_y_joint_trans">
    <type>transmission_interface/SimpleTransmission</type>
    <joint name="r_wrist_y_joint">
      <!-- dupricated in kinetic -->
      <!--hardwareInterface>hardware_interface/EffortJointInterface</hardwareInterface-->
      <!--hardwareInterface>EffortJointInterface</hardwareInterface-->
      <hardwareInterface>VelocityJointInterface</hardwareInterface>
    </joint>
    <actuator name="r_wrist_y_joint_motor">
      <!-- dupricated in kinetic -->
      <!--hardwareInterface>hardware_interface/EffortJointInterface</hardwareInterface-->
      <!--hardwareInterface>EffortJointInterface</hardwareInterface-->
      <hardwareInterface>VelocityJointInterface</hardwareInterface>
      <mechanicalReduction>1</mechanicalReduction>
    </actuator>
  </transmission>
  <gazebo reference="r_wrist_y_joint">
    <implicitSpringDamper>0</implicitSpringDamper>
  </gazebo>
  <joint name="r_wrist_p_joint" type="revolute">
    <parent link="r_forearm_link"/>
    <child link="r_wrist_center"/>
    <origin rpy="0 -0 0 " xyz="0 0 -0.124"/>
    <axis xyz="0 1 0"/>
    <!-- from -8 to 8 degrees-->
    <limit effort="100" lower="-0.14" upper="0.14" velocity="0.9"/>
    <dynamics damping="0.2" friction="0"/>
  </joint>
  <transmission name="r_wrist_p_joint_trans">
    <type>transmission_interface/SimpleTransmission</type>
    <joint name="r_wrist_p_joint">
      <!-- dupricated in kinetic -->
      <!--hardwareInterface>hardware_interface/EffortJointInterface</hardwareInterface-->
      <!--hardwareInterface>EffortJointInterface</hardwareInterface-->
      <hardwareInterface>VelocityJointInterface</hardwareInterface>
    </joint>
    <actuator name="r_wrist_p_joint_motor">
      <!-- dupricated in kinetic -->
      <!--hardwareInterface>hardware_interface/EffortJointInterface</hardwareInterface-->
      <!--hardwareInterface>EffortJointInterface</hardwareInterface-->
      <hardwareInterface>VelocityJointInterface</hardwareInterface>
      <mechanicalReduction>1</mechanicalReduction>
    </actuator>
  </transmission>
  <gazebo reference="r_wrist_p_joint">
    <implicitSpringDamper>0</implicitSpringDamper>
  </gazebo>
  <joint name="r_wrist_r_joint" type="revolute">
    <parent link="r_wrist_center"/>
    <child link="r_hand_link"/>
    <origin rpy="0 -0 0 " xyz="0 0 0"/>
    <axis xyz="1 0 0"/>
    <!-- from -20 to 90 degrees-->
    <limit effort="100" lower="-0.35" upper="1.57" velocity="2.1"/>
    <dynamics damping="0.2" friction="0"/>
  </joint>
  <transmission name="r_wrist_r_joint_trans">
    <type>transmission_interface/SimpleTransmission</type>
    <joint name="r_wrist_r_joint">
      <!-- dupricated in kinetic -->
      <!--hardwareInterface>hardware_interface/EffortJointInterface</hardwareInterface-->
      <!--hardwareInterface>EffortJointInterface</hardwareInterface-->
      <hardwareInterface>VelocityJointInterface</hardwareInterface>
    </joint>
    <actuator name="r_wrist_r_joint_motor">
      <!-- dupricated in kinetic -->
      <!--hardwareInterface>hardware_interface/EffortJointInterface</hardwareInterface-->
      <!--hardwareInterface>EffortJointInterface</hardwareInterface-->
      <hardwareInterface>VelocityJointInterface</hardwareInterface>
      <mechanicalReduction>1</mechanicalReduction>
    </actuator>
  </transmission>
  <gazebo reference="r_wrist_r_joint">
    <implicitSpringDamper>0</implicitSpringDamper>
  </gazebo>
  <!-- ============================   Hand(trx_s)   ============================ -->
  <!-- prefix is "r" or "l" -->
  <!-- reflect=1 is rightside, reflect=-1 is leftside -->
  <link name="r_hand_link">
    <visual>
      <origin rpy="0 -0 0.0" xyz="0 0 0"/>
      <geometry>
        <mesh filename="package://seed_r7_description/meshes/trx_s/RARM_LINK7_mesh.dae" scale="1 1 1"/>
      </geometry>
    </visual>
    <collision>
      <origin rpy="0.7 0 0" xyz="0 0 -0.093"/>
      <geometry>
        <box size="0.036 0.070 0.030"/>
      </geometry>
    </collision>
    <collision>
      <origin rpy="-0.1 0 0" xyz="0 -0.007 -0.055"/>
      <geometry>
        <box size="0.036 0.050 0.070"/>
      </geometry>
    </collision>
    <inertial>
      <mass value="0.183"/>
      <origin rpy="0 -0 0" xyz="0 0 -0.0875"/>
      <inertia ixx="0.000601" ixy="0" ixz="0" iyy="0.00055" iyz="0" izz="0.000102"/>
    </inertial>
  </link>
  <gazebo reference="r_hand_link">
    <mu1>0.9</mu1>
    <mu2>0.9</mu2>
  </gazebo>
  <link name="r_indexbase_link">
    <visual>
      <origin rpy="0 -0 0.0" xyz="0 0.013 0.115"/>
      <geometry>
        <mesh filename="package://seed_r7_description/meshes/trx_s/RARM_INDEX_LINK1_mesh.dae" scale="1 1 1"/>
      </geometry>
    </visual>
    <collision>
      <origin rpy="-0.85 0 0" xyz="0 0.013494 -0.021422"/>
      <geometry>
        <box size="0.041 0.061 0.016"/>
        <!-- 0.85 -->
      </geometry>
    </collision>
    <inertial>
      <mass value="0.1"/>
      <origin rpy="0 0 0" xyz="0 0.014 -0.021"/>
      <inertia ixx="0.001" ixy="0" ixz="0" iyy="0.0001" iyz="0" izz="0.0001"/>
    </inertial>
  </link>
  <gazebo reference="r_indexbase_link">
    <mu1>0.9</mu1>
    <mu2>0.9</mu2>
  </gazebo>
  <link name="r_indexmid_link">
    <visual>
      <origin rpy="0 -0 0.0" xyz="0 -0.015754 0.149615"/>
      <geometry>
        <mesh filename="package://seed_r7_description/meshes/trx_s/RARM_INDEX_LINK2_mesh.dae" scale="1 1 1"/>
      </geometry>
    </visual>
    <collision>
      <origin rpy="-0.3 0 0" xyz="0 0.014 -0.008"/>
      <!-- 0.3 -->
      <geometry>
        <box size="0.034 0.030 0.016"/>
      </geometry>
    </collision>
    <inertial>
      <mass value="0.1"/>
      <origin rpy="0 0 0" xyz="0 0.014 -0.008"/>
      <inertia ixx="0.001" ixy="0" ixz="0" iyy="0.0001" iyz="0" izz="0.0001"/>
    </inertial>
  </link>
  <gazebo reference="r_indexmid_link">
    <mu1>0.9</mu1>
    <mu2>0.9</mu2>
  </gazebo>
  <link name="r_indexend_link">
    <visual>
      <origin rpy="0 -0 0.0" xyz="0 -0.03747 0.162972"/>
      <geometry>
        <mesh filename="package://seed_r7_description/meshes/trx_s/RARM_INDEX_LINK3_mesh.dae" scale="1 1 1"/>
      </geometry>
    </visual>
    <collision>
      <origin rpy="0 0 0" xyz="0 0.013 0.004"/>
      <!-- 0.0 -->
      <geometry>
        <box size="0.040 0.028 0.016"/>
      </geometry>
    </collision>
    <inertial>
      <mass value="0.1"/>
      <origin rpy="0 0 0" xyz="0 0.02 0"/>
      <inertia ixx="0.0001" ixy="0" ixz="0" iyy="0.0001" iyz="0" izz="0.0001"/>
    </inertial>
  </link>
  <gazebo reference="r_indexend_link">
    <mu1>0.9</mu1>
    <mu2>0.9</mu2>
  </gazebo>
  <link name="r_thumb_link">
    <visual>
      <origin rpy="0 -0 0.0" xyz="0 -0.022355 0.079645"/>
      <geometry>
        <mesh filename="package://seed_r7_description/meshes/trx_s/RARM_THUMB_LINK_mesh.dae" scale="1 1 1"/>
      </geometry>
    </visual>
    <collision>
      <origin rpy="0.63 0 0" xyz="0.0 0.019645 -0.010355"/>
      <geometry>
        <box size="0.012 0.008 0.050"/>
      </geometry>
    </collision>
    <collision>
      <origin rpy="0.1 0 0" xyz="0.0 0.035645 -0.050355"/>
      <geometry>
        <box size="0.012 0.008 0.050"/>
      </geometry>
    </collision>
    <inertial>
      <mass value="0.1"/>
      <origin rpy="0 0 0" xyz="0 0.05 -0.06"/>
      <inertia ixx="0.001" ixy="0" ixz="0" iyy="0.0001" iyz="0" izz="0.0001"/>
    </inertial>
  </link>
  <gazebo reference="r_thumb_link">
    <mu1>0.9</mu1>
    <mu2>0.9</mu2>
  </gazebo>
  <joint name="r_indexbase_joint" type="revolute">
    <parent link="r_hand_link"/>
    <child link="r_indexbase_link"/>
    <origin rpy="0 -0 0 " xyz="0 -0.013 -0.115"/>
    <axis xyz="1 0 0"/>
    <limit effort="100" lower="-3.14159" upper="3.14159" velocity="0.5"/>
    <dynamics damping="0.2" friction="0"/>
  </joint>
  <transmission name="r_indexbase_joint_trans">
    <type>transmission_interface/SimpleTransmission</type>
    <joint name="r_indexbase_joint">
      <!-- dupricated in kinetic -->
      <!--hardwareInterface>hardware_interface/EffortJointInterface</hardwareInterface-->
      <!--hardwareInterface>EffortJointInterface</hardwareInterface-->
      <hardwareInterface>VelocityJointInterface</hardwareInterface>
    </joint>
    <actuator name="r_indexbase_joint_motor">
      <!-- dupricated in kinetic -->
      <!--hardwareInterface>hardware_interface/EffortJointInterface</hardwareInterface-->
      <!--hardwareInterface>EffortJointInterface</hardwareInterface-->
      <hardwareInterface>VelocityJointInterface</hardwareInterface>
      <mechanicalReduction>1</mechanicalReduction>
    </actuator>
  </transmission>
  <gazebo reference="r_indexbase_joint">
    <implicitSpringDamper>0</implicitSpringDamper>
  </gazebo>
  <joint name="r_indexmid_joint" type="revolute">
    <parent link="r_indexbase_link"/>
    <child link="r_indexmid_link"/>
    <origin rpy="0 -0 0 " xyz="0 0.028754 -0.034615"/>
    <axis xyz="1 0 0"/>
    <limit effort="100" lower="-3.14159" upper="3.14159" velocity="0.5"/>
    <dynamics damping="0.2" friction="0"/>
  </joint>
  <transmission name="r_indexmid_joint_trans">
    <type>transmission_interface/SimpleTransmission</type>
    <joint name="r_indexmid_joint">
      <!-- dupricated in kinetic -->
      <!--hardwareInterface>hardware_interface/EffortJointInterface</hardwareInterface-->
      <!--hardwareInterface>EffortJointInterface</hardwareInterface-->
      <hardwareInterface>VelocityJointInterface</hardwareInterface>
    </joint>
    <actuator name="r_indexmid_joint_motor">
      <!-- dupricated in kinetic -->
      <!--hardwareInterface>hardware_interface/EffortJointInterface</hardwareInterface-->
      <!--hardwareInterface>EffortJointInterface</hardwareInterface-->
      <hardwareInterface>VelocityJointInterface</hardwareInterface>
      <mechanicalReduction>1</mechanicalReduction>
    </actuator>
  </transmission>
  <gazebo reference="r_indexmid_joint">
    <implicitSpringDamper>0</implicitSpringDamper>
  </gazebo>
  <joint name="r_indexend_joint" type="revolute">
    <parent link="r_indexmid_link"/>
    <child link="r_indexend_link"/>
    <origin rpy="0 -0 0 " xyz="0 0.021716 -0.013357"/>
    <axis xyz="1 0 0"/>
    <limit effort="100" lower="-3.14159" upper="3.14159" velocity="0.5"/>
    <dynamics damping="0.2" friction="0"/>
  </joint>
  <transmission name="r_indexend_joint_trans">
    <type>transmission_interface/SimpleTransmission</type>
    <joint name="r_indexend_joint">
      <!-- dupricated in kinetic -->
      <!--hardwareInterface>hardware_interface/EffortJointInterface</hardwareInterface-->
      <!--hardwareInterface>EffortJointInterface</hardwareInterface-->
      <hardwareInterface>VelocityJointInterface</hardwareInterface>
    </joint>
    <actuator name="r_indexend_joint_motor">
      <!-- dupricated in kinetic -->
      <!--hardwareInterface>hardware_interface/EffortJointInterface</hardwareInterface-->
      <!--hardwareInterface>EffortJointInterface</hardwareInterface-->
      <hardwareInterface>VelocityJointInterface</hardwareInterface>
      <mechanicalReduction>1</mechanicalReduction>
    </actuator>
  </transmission>
  <gazebo reference="r_indexend_joint">
    <implicitSpringDamper>0</implicitSpringDamper>
  </gazebo>
  <joint name="r_thumb_joint" type="revolute">
    <parent link="r_hand_link"/>
    <child link="r_thumb_link"/>
    <origin rpy="0 -0 0 " xyz="0 0.022355 -0.079645"/>
    <axis xyz="1 0 0"/>
    <limit effort="100" lower="-3.14159" upper="3.14159" velocity="0.5"/>
    <dynamics damping="0.2" friction="0"/>
  </joint>
  <transmission name="r_thumb_joint_trans">
    <type>transmission_interface/SimpleTransmission</type>
    <joint name="r_thumb_joint">
      <!-- dupricated in kinetic -->
      <!--hardwareInterface>hardware_interface/EffortJointInterface</hardwareInterface-->
      <!--hardwareInterface>EffortJointInterface</hardwareInterface-->
      <hardwareInterface>VelocityJointInterface</hardwareInterface>
    </joint>
    <actuator name="r_thumb_joint_motor">
      <!-- dupricated in kinetic -->
      <!--hardwareInterface>hardware_interface/EffortJointInterface</hardwareInterface-->
      <!--hardwareInterface>EffortJointInterface</hardwareInterface-->
      <hardwareInterface>VelocityJointInterface</hardwareInterface>
      <mechanicalReduction>1</mechanicalReduction>
    </actuator>
  </transmission>
  <gazebo reference="r_thumb_joint">
    <implicitSpringDamper>0</implicitSpringDamper>
  </gazebo>
  <!-- for ik eef link-->
  <link name="r_eef_grasp_link"/>
  <link name="r_eef_pick_link"/>
  <link name="r_thumb_tip_link"/>
  <link name="r_index_tip_link"/>
  <!-- for ik eef link-->
  <!-- for ik eef connector-->
  <joint name="r_eef_grasp_joint" type="fixed">
    <parent link="r_hand_link"/>
    <child link="r_eef_grasp_link"/>
    <origin rpy="0 1.5708 0 " xyz="0.0 0.04 -0.14"/>
  </joint>
  <joint name="r_eef_pick_joint" type="fixed">
    <parent link="r_hand_link"/>
    <child link="r_eef_pick_link"/>
    <origin rpy="0 1.5708 0 " xyz="0.0 0.07 -0.16"/>
  </joint>
  <joint name="r_thumb_tip_joint" type="fixed">
    <parent link="r_thumb_link"/>
    <child link="r_thumb_tip_link"/>
    <origin rpy="0 0 0 " xyz="0.0 0.035 -0.085"/>
  </joint>
  <joint name="r_index_tip_joint" type="fixed">
    <parent link="r_indexend_link"/>
    <child link="r_index_tip_link"/>
    <origin rpy="0 0 0 " xyz="0.0 0.02 0.0"/>
  </joint>
  <!-- for ik eef connector-->
  <!-- ============================   Hand(trx_s)   ============================ -->
  <!-- prefix is "r" or "l" -->
  <!-- reflect=1 is rightside, reflect=-1 is leftside -->
  <link name="l_hand_link">
    <visual>
      <origin rpy="0 -0 3.14159265359" xyz="0 0 0"/>
      <geometry>
        <mesh filename="package://seed_r7_description/meshes/trx_s/RARM_LINK7_mesh.dae" scale="1 1 1"/>
      </geometry>
    </visual>
    <collision>
      <origin rpy="-0.7 0 0" xyz="0 0 -0.093"/>
      <geometry>
        <box size="0.036 0.070 0.030"/>
      </geometry>
    </collision>
    <collision>
      <origin rpy="0.1 0 0" xyz="0 0.007 -0.055"/>
      <geometry>
        <box size="0.036 0.050 0.070"/>
      </geometry>
    </collision>
    <inertial>
      <mass value="0.183"/>
      <origin rpy="0 -0 0" xyz="0 0 -0.0875"/>
      <inertia ixx="0.000601" ixy="0" ixz="0" iyy="0.00055" iyz="0" izz="0.000102"/>
    </inertial>
  </link>
  <gazebo reference="l_hand_link">
    <mu1>0.9</mu1>
    <mu2>0.9</mu2>
  </gazebo>
  <link name="l_indexbase_link">
    <visual>
      <origin rpy="0 -0 3.14159265359" xyz="0 -0.013 0.115"/>
      <geometry>
        <mesh filename="package://seed_r7_description/meshes/trx_s/RARM_INDEX_LINK1_mesh.dae" scale="1 1 1"/>
      </geometry>
    </visual>
    <collision>
      <origin rpy="0.85 0 0" xyz="0 -0.013494 -0.021422"/>
      <geometry>
        <box size="0.041 0.061 0.016"/>
        <!-- 0.85 -->
      </geometry>
    </collision>
    <inertial>
      <mass value="0.1"/>
      <origin rpy="0 0 0" xyz="0 -0.014 -0.021"/>
      <inertia ixx="0.001" ixy="0" ixz="0" iyy="0.0001" iyz="0" izz="0.0001"/>
    </inertial>
  </link>
  <gazebo reference="l_indexbase_link">
    <mu1>0.9</mu1>
    <mu2>0.9</mu2>
  </gazebo>
  <link name="l_indexmid_link">
    <visual>
      <origin rpy="0 -0 3.14159265359" xyz="0 0.015754 0.149615"/>
      <geometry>
        <mesh filename="package://seed_r7_description/meshes/trx_s/RARM_INDEX_LINK2_mesh.dae" scale="1 1 1"/>
      </geometry>
    </visual>
    <collision>
      <origin rpy="0.3 0 0" xyz="0 -0.014 -0.008"/>
      <!-- 0.3 -->
      <geometry>
        <box size="0.034 0.030 0.016"/>
      </geometry>
    </collision>
    <inertial>
      <mass value="0.1"/>
      <origin rpy="0 0 0" xyz="0 -0.014 -0.008"/>
      <inertia ixx="0.001" ixy="0" ixz="0" iyy="0.0001" iyz="0" izz="0.0001"/>
    </inertial>
  </link>
  <gazebo reference="l_indexmid_link">
    <mu1>0.9</mu1>
    <mu2>0.9</mu2>
  </gazebo>
  <link name="l_indexend_link">
    <visual>
      <origin rpy="0 -0 3.14159265359" xyz="0 0.03747 0.162972"/>
      <geometry>
        <mesh filename="package://seed_r7_description/meshes/trx_s/RARM_INDEX_LINK3_mesh.dae" scale="1 1 1"/>
      </geometry>
    </visual>
    <collision>
      <origin rpy="0 0 0" xyz="0 -0.013 0.004"/>
      <!-- 0.0 -->
      <geometry>
        <box size="0.040 0.028 0.016"/>
      </geometry>
    </collision>
    <inertial>
      <mass value="0.1"/>
      <origin rpy="0 0 0" xyz="0 -0.02 0"/>
      <inertia ixx="0.0001" ixy="0" ixz="0" iyy="0.0001" iyz="0" izz="0.0001"/>
    </inertial>
  </link>
  <gazebo reference="l_indexend_link">
    <mu1>0.9</mu1>
    <mu2>0.9</mu2>
  </gazebo>
  <link name="l_thumb_link">
    <visual>
      <origin rpy="0 -0 3.14159265359" xyz="0 0.022355 0.079645"/>
      <geometry>
        <mesh filename="package://seed_r7_description/meshes/trx_s/RARM_THUMB_LINK_mesh.dae" scale="1 1 1"/>
      </geometry>
    </visual>
    <collision>
      <origin rpy="-0.63 0 0" xyz="0.0 -0.019645 -0.010355"/>
      <geometry>
        <box size="0.012 0.008 0.050"/>
      </geometry>
    </collision>
    <collision>
      <origin rpy="-0.1 0 0" xyz="0.0 -0.035645 -0.050355"/>
      <geometry>
        <box size="0.012 0.008 0.050"/>
      </geometry>
    </collision>
    <inertial>
      <mass value="0.1"/>
      <origin rpy="0 0 0" xyz="0 -0.05 -0.06"/>
      <inertia ixx="0.001" ixy="0" ixz="0" iyy="0.0001" iyz="0" izz="0.0001"/>
    </inertial>
  </link>
  <gazebo reference="l_thumb_link">
    <mu1>0.9</mu1>
    <mu2>0.9</mu2>
  </gazebo>
  <joint name="l_indexbase_joint" type="revolute">
    <parent link="l_hand_link"/>
    <child link="l_indexbase_link"/>
    <origin rpy="0 -0 0 " xyz="0 0.013 -0.115"/>
    <axis xyz="1 0 0"/>
    <limit effort="100" lower="-3.14159" upper="3.14159" velocity="0.5"/>
    <dynamics damping="0.2" friction="0"/>
  </joint>
  <transmission name="l_indexbase_joint_trans">
    <type>transmission_interface/SimpleTransmission</type>
    <joint name="l_indexbase_joint">
      <!-- dupricated in kinetic -->
      <!--hardwareInterface>hardware_interface/EffortJointInterface</hardwareInterface-->
      <!--hardwareInterface>EffortJointInterface</hardwareInterface-->
      <hardwareInterface>VelocityJointInterface</hardwareInterface>
    </joint>
    <actuator name="l_indexbase_joint_motor">
      <!-- dupricated in kinetic -->
      <!--hardwareInterface>hardware_interface/EffortJointInterface</hardwareInterface-->
      <!--hardwareInterface>EffortJointInterface</hardwareInterface-->
      <hardwareInterface>VelocityJointInterface</hardwareInterface>
      <mechanicalReduction>1</mechanicalReduction>
    </actuator>
  </transmission>
  <gazebo reference="l_indexbase_joint">
    <implicitSpringDamper>0</implicitSpringDamper>
  </gazebo>
  <joint name="l_indexmid_joint" type="revolute">
    <parent link="l_indexbase_link"/>
    <child link="l_indexmid_link"/>
    <origin rpy="0 -0 0 " xyz="0 -0.028754 -0.034615"/>
    <axis xyz="1 0 0"/>
    <limit effort="100" lower="-3.14159" upper="3.14159" velocity="0.5"/>
    <dynamics damping="0.2" friction="0"/>
  </joint>
  <transmission name="l_indexmid_joint_trans">
    <type>transmission_interface/SimpleTransmission</type>
    <joint name="l_indexmid_joint">
      <!-- dupricated in kinetic -->
      <!--hardwareInterface>hardware_interface/EffortJointInterface</hardwareInterface-->
      <!--hardwareInterface>EffortJointInterface</hardwareInterface-->
      <hardwareInterface>VelocityJointInterface</hardwareInterface>
    </joint>
    <actuator name="l_indexmid_joint_motor">
      <!-- dupricated in kinetic -->
      <!--hardwareInterface>hardware_interface/EffortJointInterface</hardwareInterface-->
      <!--hardwareInterface>EffortJointInterface</hardwareInterface-->
      <hardwareInterface>VelocityJointInterface</hardwareInterface>
      <mechanicalReduction>1</mechanicalReduction>
    </actuator>
  </transmission>
  <gazebo reference="l_indexmid_joint">
    <implicitSpringDamper>0</implicitSpringDamper>
  </gazebo>
  <joint name="l_indexend_joint" type="revolute">
    <parent link="l_indexmid_link"/>
    <child link="l_indexend_link"/>
    <origin rpy="0 -0 0 " xyz="0 -0.021716 -0.013357"/>
    <axis xyz="1 0 0"/>
    <limit effort="100" lower="-3.14159" upper="3.14159" velocity="0.5"/>
    <dynamics damping="0.2" friction="0"/>
  </joint>
  <transmission name="l_indexend_joint_trans">
    <type>transmission_interface/SimpleTransmission</type>
    <joint name="l_indexend_joint">
      <!-- dupricated in kinetic -->
      <!--hardwareInterface>hardware_interface/EffortJointInterface</hardwareInterface-->
      <!--hardwareInterface>EffortJointInterface</hardwareInterface-->
      <hardwareInterface>VelocityJointInterface</hardwareInterface>
    </joint>
    <actuator name="l_indexend_joint_motor">
      <!-- dupricated in kinetic -->
      <!--hardwareInterface>hardware_interface/EffortJointInterface</hardwareInterface-->
      <!--hardwareInterface>EffortJointInterface</hardwareInterface-->
      <hardwareInterface>VelocityJointInterface</hardwareInterface>
      <mechanicalReduction>1</mechanicalReduction>
    </actuator>
  </transmission>
  <gazebo reference="l_indexend_joint">
    <implicitSpringDamper>0</implicitSpringDamper>
  </gazebo>
  <joint name="l_thumb_joint" type="revolute">
    <parent link="l_hand_link"/>
    <child link="l_thumb_link"/>
    <origin rpy="0 -0 0 " xyz="0 -0.022355 -0.079645"/>
    <axis xyz="1 0 0"/>
    <limit effort="100" lower="-3.14159" upper="3.14159" velocity="0.5"/>
    <dynamics damping="0.2" friction="0"/>
  </joint>
  <transmission name="l_thumb_joint_trans">
    <type>transmission_interface/SimpleTransmission</type>
    <joint name="l_thumb_joint">
      <!-- dupricated in kinetic -->
      <!--hardwareInterface>hardware_interface/EffortJointInterface</hardwareInterface-->
      <!--hardwareInterface>EffortJointInterface</hardwareInterface-->
      <hardwareInterface>VelocityJointInterface</hardwareInterface>
    </joint>
    <actuator name="l_thumb_joint_motor">
      <!-- dupricated in kinetic -->
      <!--hardwareInterface>hardware_interface/EffortJointInterface</hardwareInterface-->
      <!--hardwareInterface>EffortJointInterface</hardwareInterface-->
      <hardwareInterface>VelocityJointInterface</hardwareInterface>
      <mechanicalReduction>1</mechanicalReduction>
    </actuator>
  </transmission>
  <gazebo reference="l_thumb_joint">
    <implicitSpringDamper>0</implicitSpringDamper>
  </gazebo>
  <!-- for ik eef link-->
  <link name="l_eef_grasp_link"/>
  <link name="l_eef_pick_link"/>
  <link name="l_thumb_tip_link"/>
  <link name="l_index_tip_link"/>
  <!-- for ik eef link-->
  <!-- for ik eef connector-->
  <joint name="l_eef_grasp_joint" type="fixed">
    <parent link="l_hand_link"/>
    <child link="l_eef_grasp_link"/>
    <origin rpy="0 1.5708 0 " xyz="0.0 -0.04 -0.14"/>
  </joint>
  <joint name="l_eef_pick_joint" type="fixed">
    <parent link="l_hand_link"/>
    <child link="l_eef_pick_link"/>
    <origin rpy="0 1.5708 0 " xyz="0.0 -0.07 -0.16"/>
  </joint>
  <joint name="l_thumb_tip_joint" type="fixed">
    <parent link="l_thumb_link"/>
    <child link="l_thumb_tip_link"/>
    <origin rpy="0 0 0 " xyz="0.0 -0.035 -0.085"/>
  </joint>
  <joint name="l_index_tip_joint" type="fixed">
    <parent link="l_indexend_link"/>
    <child link="l_index_tip_link"/>
    <origin rpy="0 0 0 " xyz="0.0 -0.02 0.0"/>
  </joint>
  <!-- for ik eef connector-->
  <joint name="upper_lower_connector" type="fixed">
    <parent link="lifter_top_link"/>
    <child link="waist_link"/>
    <origin rpy="0 0 0 " xyz="0.0 0.0 0.0"/>
  </joint>
  <!-- ============================   typeE_wheels  ============================ -->
  <link name="base_link"/>
  <link name="wheel_base_link">
    <visual>
      <origin rpy="0 -0 0" xyz="0.0 0.0 0.0"/>
      <geometry>
        <mesh filename="package://seed_r7_description/meshes/typeE_wheel/wheels_base.dae" scale="1 1 1"/>
      </geometry>
    </visual>
    <collision>
      <!--origin xyz="0.0 0.0 0.0" rpy="0 -0 0"/>
        <geometry>
          <mesh filename="package://seed_r7_description/meshes/typeE_wheel/wheels_base.dae" scale="1 1 1" />
        </geometry-->
      <origin rpy="0 -0 0" xyz="0.018 0.0 0.0375"/>
      <geometry>
        <box size="0.72 0.52 0.149"/>
      </geometry>
    </collision>
    <inertial>
      <mass value="70"/>
      <origin rpy="0 -0 0.0" xyz="0 0 0.04"/>
      <inertia ixx="0.528" ixy="0" ixz="0" iyy="2.02" iyz="0" izz="2.35"/>
    </inertial>
  </link>
  <gazebo reference="wheel_base_link">
    <mu1>0.9</mu1>
    <mu2>0.9</mu2>
  </gazebo>
  <link name="wheels_top_link">
    <visual>
      <origin rpy="0 -0 0" xyz="0.0 0.0 0.0"/>
      <geometry>
        <mesh filename="package://seed_r7_description/meshes/typeE_wheel/wheels_top.dae" scale="1 1 1"/>
      </geometry>
    </visual>
    <!-- no collision geometry -->
    <inertial>
      <mass value="1"/>
      <origin rpy="0 -0 0" xyz="0 0 0"/>
      <inertia ixx="0.528" ixy="0" ixz="0" iyy="2.02" iyz="0" izz="2.35"/>
    </inertial>
  </link>
  <gazebo reference="wheels_top_link">
    <mu1>0.9</mu1>
    <mu2>0.9</mu2>
  </gazebo>
  <link name="wheels_front_left_mecanum">
    <visual>
      <origin rpy="-1.57079632679 0 0" xyz="0.0 0.0 0.0"/>
      <geometry>
        <mesh filename="package://seed_r7_description/meshes/typeE_wheel/wheels_mecanum.dae" scale="1 1 1"/>
      </geometry>
    </visual>
    <collision>
      <origin rpy="-1.57079632679 0 0" xyz="0.0 0.0 0.0"/>
      <geometry>
        <!--cylinder length="0.046" radius="0.076" /-->
        <box size="0.152 0.152 0.046"/>
      </geometry>
    </collision>
    <inertial>
      <mass value="1"/>
      <origin rpy="0 -0 0" xyz="0 0 0"/>
      <inertia ixx="0.528" ixy="0" ixz="0" iyy="2.02" iyz="0" izz="2.35"/>
    </inertial>
  </link>
  <gazebo reference="wheels_front_left_mecanum">
    <mu1>0.25</mu1>
    <mu2>0.25</mu2>
  </gazebo>
  <link name="wheels_front_right_mecanum">
    <visual>
      <origin rpy="-1.57079632679 0 0" xyz="0.0 0.0 0.0"/>
      <geometry>
        <mesh filename="package://seed_r7_description/meshes/typeE_wheel/wheels_mecanum.dae" scale="1 1 1"/>
      </geometry>
    </visual>
    <collision>
      <origin rpy="-1.57079632679 0 0" xyz="0.0 0.0 0.0"/>
      <geometry>
        <!--cylinder length="0.046" radius="0.076" /-->
        <box size="0.152 0.152 0.046"/>
      </geometry>
    </collision>
    <inertial>
      <mass value="1"/>
      <origin rpy="0 -0 0" xyz="0 0 0"/>
      <inertia ixx="0.528" ixy="0" ixz="0" iyy="2.02" iyz="0" izz="2.35"/>
    </inertial>
  </link>
  <gazebo reference="wheels_front_left_mecanum">
    <mu1>0.25</mu1>
    <mu2>0.25</mu2>
  </gazebo>
  <link name="wheels_rear_left_mecanum">
    <visual>
      <origin rpy="-1.57079632679 0 0" xyz="0.0 0.0 0.0"/>
      <geometry>
        <mesh filename="package://seed_r7_description/meshes/typeE_wheel/wheels_mecanum.dae" scale="1 1 1"/>
      </geometry>
    </visual>
    <collision>
      <origin rpy="-1.57079632679 0 0" xyz="0.0 0.0 0.0"/>
      <geometry>
        <!--cylinder length="0.046" radius="0.076" /-->
        <box size="0.152 0.152 0.046"/>
      </geometry>
    </collision>
    <inertial>
      <mass value="1"/>
      <origin rpy="0 -0 0" xyz="0 0 0"/>
      <inertia ixx="0.528" ixy="0" ixz="0" iyy="2.02" iyz="0" izz="2.35"/>
    </inertial>
  </link>
  <gazebo reference="wheels_rear_left_mecanum">
    <mu1>0.25</mu1>
    <mu2>0.25</mu2>
  </gazebo>
  <link name="wheels_rear_right_mecanum">
    <visual>
      <origin rpy="-1.57079632679 0 0" xyz="0.0 0.0 0.0"/>
      <geometry>
        <mesh filename="package://seed_r7_description/meshes/typeE_wheel/wheels_mecanum.dae" scale="1 1 1"/>
      </geometry>
    </visual>
    <collision>
      <origin rpy="-1.57079632679 0 0" xyz="0.0 0.0 0.0"/>
      <geometry>
        <!--cylinder length="0.046" radius="0.076" /-->
        <box size="0.152 0.152 0.046"/>
      </geometry>
    </collision>
    <inertial>
      <mass value="1"/>
      <origin rpy="0 -0 0" xyz="0 0 0"/>
      <inertia ixx="0.528" ixy="0" ixz="0" iyy="2.02" iyz="0" izz="2.35"/>
    </inertial>
  </link>
  <gazebo reference="wheels_rear_right_mecanum">
    <mu1>0.25</mu1>
    <mu2>0.25</mu2>
  </gazebo>
  <link name="wheels_base_laser_link">
    <visual>
      <origin rpy="0 0 0" xyz="0.0 0.0 0.0"/>
      <geometry>
        <mesh filename="package://seed_r7_description/meshes/typeE_wheel/wheels_urg.dae" scale="1 1 1"/>
      </geometry>
    </visual>
    <collision>
      <origin rpy="0 -0 0" xyz="0.0 0.0 -0.0124"/>
      <geometry>
        <box size="0.08 0.1 0.07"/>
      </geometry>
    </collision>
    <inertial>
      <mass value="0.2"/>
      <origin rpy="0 -0 0" xyz="0 0 0"/>
      <inertia ixx="0.0528" ixy="0" ixz="0" iyy="0.0202" iyz="0" izz="0.0235"/>
    </inertial>
  </link>
  <gazebo reference="wheels_base_laser_link">
    <mu1>0.9</mu1>
    <mu2>0.9</mu2>
  </gazebo>
  <joint name="base_link_to_wheel_base_link_connector" type="fixed">
    <parent link="base_link"/>
    <child link="wheel_base_link"/>
    <origin rpy="0 0 0" xyz="0.0 0.0 0.075"/>
  </joint>
  <joint name="wheels_body_to_top_connector" type="fixed">
    <parent link="wheel_base_link"/>
    <child link="wheels_top_link"/>
    <origin rpy="0 0 0 " xyz="0.0 0.0 0.115"/>
  </joint>
  <joint name="wheels_body_to_front_left_mecanum_connector" type="fixed">
    <parent link="wheel_base_link"/>
    <child link="wheels_front_left_mecanum"/>
    <origin rpy="0 0 0" xyz="0.2265 0.19485 0"/>
  </joint>
  <joint name="wheels_body_to_front_right_mecanum_connector" type="fixed">
    <parent link="wheel_base_link"/>
    <child link="wheels_front_right_mecanum"/>
    <origin rpy="0 0 0" xyz="0.2265 -0.19485 0"/>
  </joint>
  <joint name="wheels_body_to_rear_left_mecanum_connector" type="fixed">
    <parent link="wheel_base_link"/>
    <child link="wheels_rear_left_mecanum"/>
    <origin rpy="0 0 0" xyz="-0.2265 0.19485 0"/>
  </joint>
  <joint name="wheels_body_to_rear_right_mecanum_connector" type="fixed">
    <parent link="wheel_base_link"/>
    <child link="wheels_rear_right_mecanum"/>
    <origin rpy="0 0 0" xyz="-0.2265 -0.19485 0"/>
  </joint>
  <joint name="wheels_body_to_base_laser_connector" type="fixed">
    <parent link="wheel_base_link"/>
    <child link="wheels_base_laser_link"/>
    <origin rpy="0 0 0" xyz="0.29 0 0.1324"/>
  </joint>
  <joint name="wheel_lifter_connector" type="fixed">
    <parent link="wheels_top_link"/>
    <child link="lifter_base_link"/>
    <origin rpy="0 0 0 " xyz="0.0 0.0 0.005"/>
  </joint>
  <!-- ============================   (typeG_lifter)   ============================ -->
  <link name="lifter_base_link">
    <visual>
      <origin rpy="0 0 0" xyz="0 0 0"/>
      <geometry>
        <mesh filename="package://seed_r7_description/meshes/typeG_lifter/lifter_base_link.dae" scale="1 1 1"/>
      </geometry>
    </visual>
    <collision>
      <origin rpy="0 0 0" xyz="0 0 0"/>
      <geometry>
        <mesh filename="package://seed_r7_description/meshes/typeG_lifter/lifter_base_link.dae" scale="1 1 1"/>
      </geometry>
    </collision>
    <inertial>
      <mass value="7.64604"/>
      <origin rpy="0 -0 0" xyz="-0.012819 -0.002679 0.007207"/>
      <inertia ixx="0.0658136" ixy="-0.000159462" ixz="0.010103" iyy="0.0504268" iyz="0.000173435" izz="0.0889772"/>
    </inertial>
  </link>
  <gazebo reference="lifter_base_link">
    <mu1>0.9</mu1>
    <mu2>0.9</mu2>
  </gazebo>
  <link name="leg_shank_link">
    <visual>
      <origin rpy="0 0 0" xyz="0.0 0.0 0"/>
      <geometry>
        <mesh filename="package://seed_r7_description/meshes/typeG_lifter/leg_shank_link.dae" scale="1 1 1"/>
      </geometry>
    </visual>
    <collision>
      <origin rpy="0 0 0" xyz="0.0 0.0 0"/>
      <geometry>
        <mesh filename="package://seed_r7_description/meshes/typeG_lifter/leg_shank_link.dae" scale="1 1 1"/>
      </geometry>
    </collision>
    <inertial>
      <mass value="2.06679"/>
      <!--origin xyz="0.081713 0.000812 -0.146934" rpy="0 -0 0"/-->
      <origin rpy="0 -0 0" xyz="0.051713 0.0 0.146934"/>
      <!--inertia ixx="0.0408818" ixy="-9.39301e-06" ixz="-0.000750165" iyy="0.0403969" iyz="-0.000120419" izz="0.00260982"/-->
      <inertia ixx="0.06" ixy="0.0" ixz="0.0" iyy="0.1" iyz="0.0" izz="0.06"/>
    </inertial>
  </link>
  <gazebo reference="leg_shank_link">
    <mu1>0.9</mu1>
    <mu2>0.9</mu2>
  </gazebo>
  <link name="leg_knee_link">
    <visual>
      <origin rpy="0 0 0" xyz="0.0 0.0 0"/>
      <geometry>
        <mesh filename="package://seed_r7_description/meshes/typeG_lifter/leg_knee_link.dae" scale="1 1 1"/>
      </geometry>
    </visual>
    <collision>
      <origin rpy="0 0 0" xyz="0.0 0.0 0"/>
      <geometry>
        <mesh filename="package://seed_r7_description/meshes/typeG_lifter/leg_knee_link.dae" scale="1 1 1"/>
      </geometry>
    </collision>
    <inertial>
      <mass value="2.06679"/>
      <!--origin xyz="0.081713 0.000812 -0.146934" rpy="0 -0 0"/-->
      <origin rpy="0 -0 0" xyz="-0.031713 0.0 0.046934"/>
      <!--inertia ixx="0.0408818" ixy="-9.39301e-06" ixz="-0.000750165" iyy="0.0403969" iyz="-0.000120419" izz="0.00260982"/-->
      <inertia ixx="0.06" ixy="0.0" ixz="0.0" iyy="0.1" iyz="0.0" izz="0.06"/>
    </inertial>
  </link>
  <gazebo reference="leg_knee_link">
    <mu1>0.9</mu1>
    <mu2>0.9</mu2>
  </gazebo>
  <link name="leg_thigh_link">
    <visual>
      <origin rpy="0 0 0" xyz="0 0 0"/>
      <geometry>
        <mesh filename="package://seed_r7_description/meshes/typeG_lifter/leg_thigh_link.dae" scale="1 1 1"/>
      </geometry>
    </visual>
    <collision>
      <origin rpy="0 0 0" xyz="0 0 0"/>
      <geometry>
        <mesh filename="package://seed_r7_description/meshes/typeG_lifter/leg_thigh_link.dae" scale="1 1 1"/>
      </geometry>
    </collision>
    <inertial>
      <mass value="2.62321"/>
      <!--origin xyz="0.0587169 0 -0.135292" rpy="0 -0 0"/-->
      <origin rpy="0 -0 0" xyz="-0.0587169 0 0.135292"/>
      <inertia ixx="0.0161595" ixy="-9.27234e-05" ixz="0.00262839" iyy="0.0166415" iyz="-0.00017447" izz="0.00477281"/>
    </inertial>
  </link>
  <gazebo reference="leg_thigh_link">
    <mu1>0.9</mu1>
    <mu2>0.9</mu2>
  </gazebo>
  <link name="leg_base_link">
    <visual>
      <origin rpy="0 0 0" xyz="0 0 0"/>
      <geometry>
        <mesh filename="package://seed_r7_description/meshes/typeG_lifter/leg_base_link.dae" scale="1 1 1"/>
      </geometry>
    </visual>
    <collision>
      <origin rpy="0 0 0" xyz="0 0 0.05"/>
      <geometry>
        <mesh filename="package://seed_r7_description/meshes/typeG_lifter/leg_base_link.dae" scale="1 1 1"/>
      </geometry>
    </collision>
    <inertial>
      <mass value="7.64604"/>
      <origin rpy="0 -0 0" xyz="-0.012819 -0.002679 0.007207"/>
      <inertia ixx="0.0658136" ixy="-0.000159462" ixz="0.010103" iyy="0.0504268" iyz="0.000173435" izz="0.0889772"/>
    </inertial>
  </link>
  <gazebo reference="leg_base_link">
    <mu1>0.9</mu1>
    <mu2>0.9</mu2>
  </gazebo>
  <link name="lifter_top_link"/>
  <gazebo reference="lifter_top_link">
    <mu1>0.9</mu1>
    <mu2>0.9</mu2>
  </gazebo>
  <joint name="lifter_top_connector" type="fixed">
    <parent link="leg_base_link"/>
    <child link="lifter_top_link"/>
    <origin rpy="0 0 0" xyz="0.012 0 0.040"/>
  </joint>
  <joint name="knee_joint_mimic" type="revolute">
    <parent link="leg_thigh_link"/>
    <child link="leg_base_link"/>
    <origin rpy="0 0 0" xyz="0 0 0.25"/>
    <axis xyz="0 -1 0"/>
    <mimic joint="knee_joint" multiplier="-1" offset="0"/>
    <limit effort="10000" lower="0" upper="1.5707" velocity="0.5"/>
    <!-- just invert of knee_joint -->
  </joint>
  <joint name="knee_joint" type="revolute">
    <!-- rename "knee_joint_thigh_dummy" -->
    <parent link="leg_knee_link"/>
    <child link="leg_thigh_link"/>
    <origin rpy="0 0 0" xyz="0 0 0.12"/>
    <axis xyz="0 -1 0"/>
    <limit effort="10000" lower="-1.5707" upper="0" velocity="0.5"/>
  </joint>
  <transmission name="knee_joint_trans">
    <type>transmission_interface/SimpleTransmission</type>
    <joint name="knee_joint">
      <!-- dupricated in kinetic -->
      <!--hardwareInterface>hardware_interface/EffortJointInterface</hardwareInterface-->
      <!--hardwareInterface>EffortJointInterface</hardwareInterface-->
      <hardwareInterface>VelocityJointInterface</hardwareInterface>
    </joint>
    <actuator name="knee_joint_motor">
      <!-- dupricated in kinetic -->
      <!--hardwareInterface>hardware_interface/EffortJointInterface</hardwareInterface-->
      <!--hardwareInterface>EffortJointInterface</hardwareInterface-->
      <hardwareInterface>VelocityJointInterface</hardwareInterface>
      <mechanicalReduction>1</mechanicalReduction>
    </actuator>
  </transmission>
  <gazebo reference="knee_joint">
    <implicitSpringDamper>0</implicitSpringDamper>
  </gazebo>
  <joint name="ankle_joint" type="revolute">
    <parent link="lifter_base_link"/>
    <child link="leg_shank_link"/>
    <origin rpy="0 0 0" xyz="-0.012 0 0.035"/>
    <axis xyz="0 -1 0"/>
    <limit effort="10000" lower="0" upper="1.5707" velocity="0.5"/>
    <dynamics damping="0.2" friction="0"/>
  </joint>
  <transmission name="ankle_joint_trans">
    <type>transmission_interface/SimpleTransmission</type>
    <joint name="ankle_joint">
      <!-- dupricated in kinetic -->
      <!--hardwareInterface>hardware_interface/EffortJointInterface</hardwareInterface-->
      <!--hardwareInterface>EffortJointInterface</hardwareInterface-->
      <hardwareInterface>VelocityJointInterface</hardwareInterface>
    </joint>
    <actuator name="ankle_joint_motor">
      <!-- dupricated in kinetic -->
      <!--hardwareInterface>hardware_interface/EffortJointInterface</hardwareInterface-->
      <!--hardwareInterface>EffortJointInterface</hardwareInterface-->
      <hardwareInterface>VelocityJointInterface</hardwareInterface>
      <mechanicalReduction>1</mechanicalReduction>
    </actuator>
  </transmission>
  <gazebo reference="ankle_joint">
    <implicitSpringDamper>0</implicitSpringDamper>
  </gazebo>
  <!--- mimic joints -->
  <!-- requried -->
  <joint name="ankle_joint_mimic" type="revolute">
    <parent link="leg_shank_link"/>
    <child link="leg_knee_link"/>
    <origin rpy="0 0 0" xyz="0 0 0.25"/>
    <axis xyz="0 -1 0"/>
    <mimic joint="ankle_joint" multiplier="-1" offset="0"/>
    <limit effort="10000" lower="-1.5707" upper="0" velocity="0.5"/>
    <!-- just invert of ankle_joint -->
  </joint>
  <!-- redundant -->
  <link name="leg_shank_link_dummy">
    <visual>
      <geometry>
        <mesh filename="package://seed_r7_description/meshes/typeG_lifter/leg_shank_link_dummy.dae" scale="1 1 1"/>
      </geometry>
      <origin rpy="0 0 0" xyz="0 0 0"/>
    </visual>
    <inertial>
      <!-- for gazebo visualization -->
      <mass value="0.4"/>
      <origin rpy="0 0 0" xyz="-0.04 0.0 0.14"/>
      <inertia ixx="0.001" ixy="0" ixz="0" iyy="0.001" iyz="0" izz="0.001"/>
    </inertial>
  </link>
  <link name="leg_thigh_link_dummy">
    <visual>
      <geometry>
        <mesh filename="package://seed_r7_description/meshes/typeG_lifter/leg_shank_link_dummy.dae" scale="1 1 1"/>
      </geometry>
      <origin rpy="0 0 0" xyz="0 0 0"/>
    </visual>
    <inertial>
      <!-- for gazebo visualization -->
      <mass value="0.4"/>
      <origin rpy="0 0 0" xyz="-0.04 0.0 0.14"/>
      <inertia ixx="0.001" ixy="0" ixz="0" iyy="0.001" iyz="0" izz="0.001"/>
    </inertial>
  </link>
  <joint name="ankle_joint_dummy" type="continuous">
    <parent link="lifter_base_link"/>
    <child link="leg_shank_link_dummy"/>
    <origin rpy="0 0 0" xyz="0.01982 0 0.06682"/>
    <axis xyz="0 -1 0"/>
    <mimic joint="ankle_joint" multiplier="1" offset="0"/>
  </joint>
  <joint name="knee_joint_dummy" type="continuous">
    <parent link="leg_knee_link"/>
    <child link="leg_thigh_link_dummy"/>
    <origin rpy="0 0 0" xyz="0.03182 0 0.08818"/>
    <axis xyz="0 1 0"/>
    <mimic joint="knee_joint" multiplier="-1" offset="0"/>
  </joint>
  <!-- gazebo settings -->
  <!-- camera -->
  <link name="camera_frame"/>
  <link name="camera_optical_frame"/>
  <joint name="camera_setting" type="fixed">
    <parent link="head_link"/>
    <child link="camera_frame"/>
    <origin rpy="0 0.15 0" xyz="0 0.035 0.09"/>
  </joint>
  <joint name="camera_optical" type="fixed">
    <parent link="camera_frame"/>
    <child link="camera_optical_frame"/>
    <origin rpy="-1.570796326795 0 -1.570796326795" xyz="0 0 0"/>
  </joint>
  <!-- camera -->
  <gazebo reference="camera_frame">
    <sensor name="camera1" type="camera">
      <update_rate>15.0</update_rate>
      <camera name="head">
        <horizontal_fov>1.7</horizontal_fov>
        <!-- -->
        <image>
          <width>800</width>
          <height>800</height>
          <format>R8G8B8</format>
        </image>
        <clip>
          <near>0.15</near>
          <far>300</far>
        </clip>
        <noise>
          <type>gaussian</type>
          <!--Noise is sampled independently per pixel on each frame.
                 That pixel's noise value is added to each of its color
                 channels, which at that point lie in the range [0,1]. -->
          <mean>0.0</mean>
          <stddev>0.007</stddev>
        </noise>
      </camera>
      <plugin filename="libgazebo_ros_camera.so" name="camera_controller">
        <alwaysOn>true</alwaysOn>
        <updateRate>0.0</updateRate>
        <cameraName>camera</cameraName>
        <imageTopicName>image_raw</imageTopicName>
        <cameraInfoTopicName>camera_info</cameraInfoTopicName>
        <frameName>camera_optical_frame</frameName>
        <!--setting hackBaseline to anything but 0.0 will cause a misalignment
               between the gazebo sensor image and the frame it is supposed to
               be attached to-->
        <hackBaseline>0.0</hackBaseline>
        <distortionK1>0.0</distortionK1>
        <distortionK2>0.0</distortionK2>
        <distortionK3>0.0</distortionK3>
        <distortionT1>0.0</distortionT1>
        <distortionT2>0.0</distortionT2>
        <CxPrime>0</CxPrime>
        <Cx>0.0</Cx>
        <Cy>0.0</Cy>
        <focalLength>0.0</focalLength>
      </plugin>
    </sensor>
  </gazebo>
  <!-- hokuyo -->
  <gazebo reference="wheels_base_laser_link">
    <sensor name="head_hokuyo_sensor" type="ray">
      <pose>0 0 0 0 0 0</pose>
      <visualize>false</visualize>
      <update_rate>40</update_rate>
      <ray>
        <scan>
          <horizontal>
            <samples>1000</samples>
            <resolution>1</resolution>
            <min_angle>-2.35619449</min_angle>
            <max_angle>2.35619449</max_angle>
          </horizontal>
        </scan>
        <range>
          <min>0.5</min>
          <max>30.0</max>
          <resolution>0.01</resolution>
        </range>
        <noise>
          <type>gaussian</type>
          <!--
                 Noise parameters based on published spec for Hokuyo laser
                 achieving "+-30mm" accuracy at range < 10m.  A mean of 0.0m and
                 stddev of 0.01m will put 99.7% of samples within 0.03m of the true
                 reading.
                 -->
          <mean>0.0</mean>
          <stddev>0.01</stddev>
        </noise>
      </ray>
      <plugin filename="libgazebo_ros_laser.so" name="gazebo_ros_head_hokuyo_controller">
        <topicName>scan</topicName>
        <frameName>wheels_base_laser_link</frameName>
      </plugin>
    </sensor>
  </gazebo>
  <gazebo>
    <plugin filename="libgazebo_ros_control.so" name="gazebo_ros_control">
      <robotNamespace>/</robotNamespace>
      <robotSimType>gazebo_ros_control/DefaultRobotHWSim</robotSimType>
    </plugin>
  </gazebo>
  <!-- Base control -->
  <gazebo>
    <!--plugin name="cmd_vel_controller" filename="libgazebo_ros_planar_force_move.so"-->
    <plugin filename="libgazebo_ros_planar_force_move.so" name="cmd_vel_controller">
      <commandTopic>cmd_vel</commandTopic>
      <odometryTopic>odom</odometryTopic>
      <odometryFrame>odom</odometryFrame>
      <odometryRate>40.0</odometryRate>
      <robotBaseFrame>base_link</robotBaseFrame>
      <useForceFeedback>true</useForceFeedback>
      <appliedForceLink>base_link</appliedForceLink>
      <forceGainX>24000</forceGainX>
      <forceGainY>24000</forceGainY>
      <forceGainRot>6000</forceGainRot>
    </plugin>
  </gazebo>
  <!-- mimic joints -->
  <gazebo>
    <plugin filename="libmimic_plugin.so" name="mimic_updater">
      <!-- lifter -->
      <mimic D="80" I="0.1" P="4000" command_max="2000" command_min="-2000" i_max="500" i_min="-500" joint="knee_joint" multiplier="-1.0" offset="0.0">
        
       knee_joint_mimic
       
        <joint> knee_joint </joint>
        <offset> 0.0 </offset>
        <multiplier> -1.0 </multiplier>
        <P> 4000 </P>
        <I> 0.1 </I>
        <D> 80 </D>
        <i_max>  500 </i_max>
        <i_min> -500 </i_min>
        <command_max>  2000 </command_max>
        <command_min> -2000 </command_min>
      </mimic>
      <mimic D="80" I="0.1" P="4000" command_max="2000" command_min="-2000" i_max="500" i_min="-500" joint="ankle_joint" multiplier="-1.0" offset="0.0">
        
       ankle_joint_mimic
       
        <joint> ankle_joint </joint>
        <offset> 0.0 </offset>
        <multiplier> -1.0 </multiplier>
        <P> 4000 </P>
        <I> 0.1 </I>
        <D> 80 </D>
        <i_max>  500 </i_max>
        <i_min> -500 </i_min>
        <command_max>  2000 </command_max>
        <command_min> -2000 </command_min>
      </mimic>
      <!-- lifter(dummy) -->
      <mimic D="1" I="0.0" P="1000" command_max="200" command_min="-200" i_max="0" i_min="0" joint="knee_joint" multiplier="-1.0" offset="0.0">
        
       knee_joint_dummy
       
        <joint> knee_joint </joint>
        <offset> 0.0 </offset>
        <multiplier> -1.0 </multiplier>
        <P> 1000 </P>
        <I> 0.0 </I>
        <D> 1 </D>
        <i_max>  0 </i_max>
        <i_min> -0 </i_min>
        <command_max>  200 </command_max>
        <command_min> -200 </command_min>
      </mimic>
      <mimic D="1" I="0.0" P="1000" command_max="200" command_min="-200" i_max="0" i_min="0" joint="ankle_joint" multiplier="1.0" offset="0.0">
        
       ankle_joint_dummy
       
        <joint> ankle_joint </joint>
        <offset> 0.0 </offset>
        <multiplier> 1.0 </multiplier>
        <P> 1000 </P>
        <I> 0.0 </I>
        <D> 1 </D>
        <i_max>  0 </i_max>
        <i_min> -0 </i_min>
        <command_max>  200 </command_max>
        <command_min> -200 </command_min>
      </mimic>
      <!-- lhand -->
      <mimic D="0.03" I="0.0" P="30" command_max="50" command_min="-50" i_max="0" i_min="0" joint="l_thumb_joint" multiplier="-1.0" offset="0.0">
        
       l_indexbase_joint
       
        <joint> l_thumb_joint </joint>
        <offset> 0.0 </offset>
        <multiplier> -1.0 </multiplier>
        <P> 30 </P>
        <I> 0.0 </I>
        <D> 0.03 </D>
        <i_max>  0 </i_max>
        <i_min> -0 </i_min>
        <command_max>  50 </command_max>
        <command_min> -50 </command_min>
      </mimic>
      <mimic D="0.03" I="0.0" P="30" command_max="50" command_min="-50" i_max="0" i_min="0" joint="l_thumb_joint" multiplier="-0.3" offset="-0.2">
        
       l_indexmid_joint
       
        <joint> l_thumb_joint </joint>
        <offset> -0.2 </offset>
        <multiplier> -0.3 </multiplier>
        <P> 30 </P>
        <I> 0.0 </I>
        <D> 0.03 </D>
        <i_max>  0 </i_max>
        <i_min> -0 </i_min>
        <command_max>  50 </command_max>
        <command_min> -50 </command_min>
      </mimic>
      <mimic D="0.03" I="0.0" P="30" command_max="50" command_min="-50" i_max="0" i_min="0" joint="l_thumb_joint" multiplier="-0.3" offset="-0.2">
        
       l_indexend_joint
       
        <joint> l_thumb_joint </joint>
        <offset> -0.2 </offset>
        <multiplier> -0.3 </multiplier>
        <P> 30 </P>
        <I> 0.0 </I>
        <D> 0.03 </D>
        <i_max>  0 </i_max>
        <i_min> -0 </i_min>
        <command_max>  50 </command_max>
        <command_min> -50 </command_min>
      </mimic>
      <!-- rhand -->
      <mimic D="0.03" I="0.0" P="30" command_max="50" command_min="-50" i_max="0" i_min="0" joint="r_thumb_joint" multiplier="-1.0" offset="0.0">
        
       r_indexbase_joint
       
        <joint> r_thumb_joint </joint>
        <offset> 0.0 </offset>
        <multiplier> -1.0 </multiplier>
        <P> 30 </P>
        <I> 0.0 </I>
        <D> 0.03 </D>
        <i_max>  0 </i_max>
        <i_min> -0 </i_min>
        <command_max>  50 </command_max>
        <command_min> -50 </command_min>
      </mimic>
      <mimic D="0.03" I="0.0" P="30" command_max="50" command_min="-50" i_max="0" i_min="0" joint="r_thumb_joint" multiplier="-0.3" offset="0.2">
        
       r_indexmid_joint
       
        <joint> r_thumb_joint </joint>
        <offset> 0.2 </offset>
        <multiplier> -0.3 </multiplier>
        <P> 30 </P>
        <I> 0.0 </I>
        <D> 0.03 </D>
        <i_max>  0 </i_max>
        <i_min> -0 </i_min>
        <command_max>  50 </command_max>
        <command_min> -50 </command_min>
      </mimic>
      <mimic D="0.03" I="0.0" P="30" command_max="50" command_min="-50" i_max="0" i_min="0" joint="r_thumb_joint" multiplier="-0.3" offset="0.2">
        
       r_indexend_joint
       
        <joint> r_thumb_joint </joint>
        <offset> 0.2 </offset>
        <multiplier> -0.3 </multiplier>
        <P> 30 </P>
        <I> 0.0 </I>
        <D> 0.03 </D>
        <i_max>  0 </i_max>
        <i_min> -0 </i_min>
        <command_max>  50 </command_max>
        <command_min> -50 </command_min>
      </mimic>
    </plugin>
  </gazebo>
</robot>
